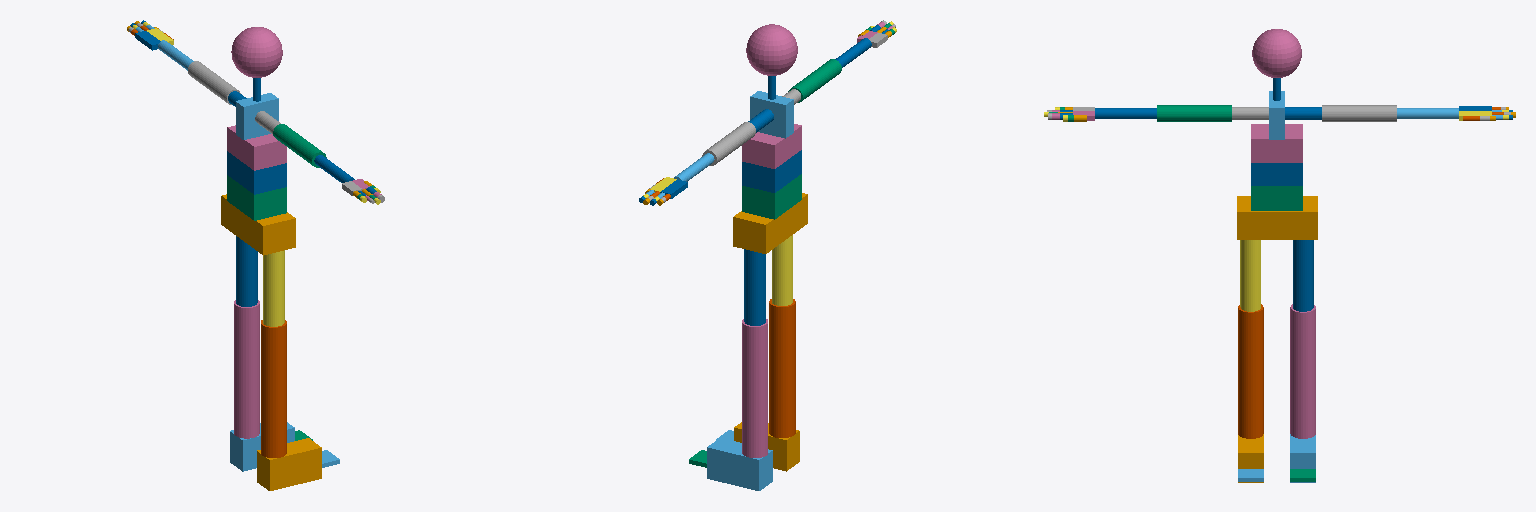
--- What the picture shows (computed from the rendered views, not written in the file) ---
3 views of the same robot in one strip: view 1: azimuth 30°, elevation 25°; view 2: azimuth 150°, elevation 25°; view 3: azimuth 270°, elevation 25° (orthographic).
Model XSensStyleModel_template_hands with 91 links and 90 joints (90 revolute), rooted at Pelvis, posed every joint at zero.
Visible links, largest first — view 1: LeftLowerLeg, RightLowerLeg, RightFoot, Pelvis, Head, T12, RightUpperLeg, L5, L3, LeftUpperLeg, T8, LeftFoot (+2 smaller); view 2: RightLowerLeg, LeftLowerLeg, LeftFoot, Pelvis, Head, T12, LeftUpperLeg, L5, L3, T8, RightUpperLeg, RightFoot (+2 smaller); view 3: RightLowerLeg, LeftLowerLeg, Pelvis, Head, T12, LeftUpperLeg, RightUpperLeg, L5, RightUpperArm, LeftUpperArm, L3, LeftFoot (+4 smaller).
Link boxes in pixels (box(x1,y1,x2,y2)): LeftLowerLeg: box(234, 300, 259, 438); RightLowerLeg: box(261, 320, 286, 457); RightFoot: box(257, 438, 321, 490); Pelvis: box(221, 194, 295, 255); Head: box(231, 27, 282, 77); T12: box(227, 125, 286, 170); RightUpperLeg: box(263, 250, 284, 326); L5: box(227, 175, 286, 220); L3: box(227, 151, 286, 194); LeftUpperLeg: box(236, 236, 257, 306); T8: box(236, 93, 278, 139); LeftFoot: box(230, 422, 294, 471); RightLowerLeg: box(769, 299, 795, 437); LeftLowerLeg: box(742, 319, 767, 457); LeftFoot: box(707, 438, 772, 490); Pelvis: box(733, 193, 807, 253); Head: box(746, 24, 797, 75); T12: box(742, 124, 801, 168); LeftUpperLeg: box(744, 249, 765, 325); L5: box(742, 174, 801, 219); L3: box(742, 150, 801, 192); T8: box(750, 91, 793, 138); RightUpperLeg: box(772, 235, 792, 305); RightFoot: box(734, 422, 799, 471); RightLowerLeg: box(1238, 304, 1263, 438); LeftLowerLeg: box(1290, 304, 1315, 438); Pelvis: box(1237, 196, 1317, 239); Head: box(1252, 29, 1301, 77); T12: box(1251, 124, 1302, 162); LeftUpperLeg: box(1293, 240, 1313, 311); RightUpperLeg: box(1240, 240, 1260, 311); L5: box(1251, 186, 1302, 210); RightUpperArm: box(1157, 105, 1231, 121); LeftUpperArm: box(1322, 105, 1396, 121); L3: box(1251, 163, 1302, 185); LeftFoot: box(1290, 434, 1315, 482).
Size in the robot's own frame: 0.327 by 1.62 by 1.64 metres.
Geometry: primitives only (box / cylinder / sphere), no mesh files.

The robot description file, URDF, robot "XSensStyleModel_template_hands":
<!--URDF MODEL 48 DoFs with Hands-->

<robot name="XSensStyleModel_template_hands">
<!--To open this model with Gazebo replace the null masses, inertias and dimensions of the 'fake links f1 and f2'-->
    <!--LINKS-->
	<!--Link base (1)-->
	<link name="Pelvis">
        <inertial>
            <mass value="5.12"/>
			<!--COM origin wrt pHipOrigin-->
            <origin xyz="-0.0066875           0    0.054332" rpy="0 0 0" />
            <inertia ixx="0.037969" iyy="0.011625" izz="0.039694" ixy="0" ixz="0" iyz="0"/>
        </inertial>

        <visual>
			<!--box origin wrt pHipOrigin-->
            <origin xyz="-0.0066875           0    0.054332" rpy="0 0 0" />
            <geometry>
                <box size="0.12508     0.27819     0.10771"/>
            </geometry>
        </visual>

        <collision>
			<!--box origin wrt pHipOrigin-->
            <origin xyz="-0.0066875           0    0.054332" rpy="0 0 0" />
            <geometry>
                <box size="0.12508     0.27819     0.10771"/>
            </geometry>
        </collision>

    </link>
    <!--Chain from (2) to (7)-->
	<link name="L5_f1">
        <inertial>
            <mass value="0.0001"/>
            <origin xyz="0 0 0" rpy="0 0 0" />
            <inertia ixx="0.0003" iyy="0.0003" izz="0.0003" ixy="0" ixz="0" iyz="0"/>
        </inertial>
    </link>
	<link name="L5">
        <inertial>
            <mass value="6.528"/>
			<!--COM origin wrt jL5S1-->
            <origin xyz="0           0    0.048039" rpy="0 0 0" />
            <inertia ixx="0.022535" iyy="0.013532" izz="0.026024" ixy="0" ixz="0" iyz="0"/>
        </inertial>

        <visual>
			<!--box origin origin wrt jL5S1-->
            <origin xyz="0           0    0.048039" rpy="0 0 0" />
            <geometry>
                <box size="0.12508     0.17943    0.096078"/>
            </geometry>
        </visual>

        <collision>
			<!--box origin origin wrt jL5S1-->
            <origin xyz="0           0    0.048039" rpy="0 0 0" />
            <geometry>
                <box size="0.12508     0.17943    0.096078"/>
            </geometry>
        </collision>
    </link>
	<link name="L3_f1">
        <inertial>
            <mass value="0.0001"/>
            <origin xyz="0 0 0" rpy="0 0 0" />
            <inertia ixx="0.0003" iyy="0.0003" izz="0.0003" ixy="0" ixz="0" iyz="0"/>
        </inertial>
    </link>
	<link name="L3">
        <inertial>
            <mass value="6.528"/>
			<!--COM origin wrt jL4L3-->
            <origin xyz="0           0    0.043871" rpy="0 0 0" />
            <inertia ixx="0.021701" iyy="0.012699" izz="0.026024" ixy="0" ixz="0" iyz="0"/>
        </inertial>

        <visual>
			<!--box origin origin wrt jL4L3-->
            <origin xyz="0           0    0.043871" rpy="0 0 0" />
            <geometry>
                <box size="0.12508     0.17943    0.087742"/>
            </geometry>
        </visual>

        <collision>
			<!--box origin origin wrt jL4L3-->
            <origin xyz="0           0    0.043871" rpy="0 0 0" />
            <geometry>
                <box size="0.12508     0.17943    0.087742"/>
            </geometry>
        </collision>
    </link>
	<link name="T12_f1">
        <inertial>
            <mass value="0.0001"/>
            <origin xyz="0 0 0" rpy="0 0 0" />
            <inertia ixx="0.0003" iyy="0.0003" izz="0.0003" ixy="0" ixz="0" iyz="0"/>
        </inertial>
    </link>
	<link name="T12">
        <inertial>
            <mass value="6.528"/>
			<!--COM origin wrt jL1T12-->
            <origin xyz="0           0    0.043822" rpy="0 0 0" />
            <inertia ixx="0.021692" iyy="0.012689" izz="0.026024" ixy="0" ixz="0" iyz="0"/>
        </inertial>

        <visual>
			<!--box origin origin wrt jL1T12-->
            <origin xyz="0           0    0.043822" rpy="0 0 0" />
            <geometry>
                <box size="0.12508     0.17943    0.087644"/>
            </geometry>
        </visual>

        <collision>
			<!--box origin origin wrt jL1T12-->
            <origin xyz="0           0    0.043822" rpy="0 0 0" />
            <geometry>
                <box size="0.12508     0.17943    0.087644"/>
            </geometry>
        </collision>
    </link>
	<link name="T8_f1">
        <inertial>
            <mass value="0.0001"/>
            <origin xyz="0 0 0" rpy="0 0 0" />
            <inertia ixx="0.0003" iyy="0.0003" izz="0.0003" ixy="0" ixz="0" iyz="0"/>
        </inertial>
    </link>
	<link name="T8_f2">
        <inertial>
            <mass value="0.0001"/>
            <origin xyz="0 0 0" rpy="0 0 0" />
            <inertia ixx="0.0003" iyy="0.0003" izz="0.0003" ixy="0" ixz="0" iyz="0"/>
        </inertial>
    </link>
	<link name="T8">
        <inertial>
            <mass value="2.56"/>
			<!--COM origin wrt jT9T8-->
            <origin xyz="0           0    0.061169" rpy="0 0 0" />
            <inertia ixx="0.0038013" iyy="0.0070865" izz="0.0045021" ixy="0" ixz="0" iyz="0"/>
        </inertial>

        <visual>
			<!--box origin wrt jT9T8-->
            <origin xyz="0           0    0.061169" rpy="0 0 0" />
            <geometry>
                <box size="0.1351    0.053406     0.12234"/>
            </geometry>
        </visual>

        <collision>
			<!--box origin wrt jT9T8-->
            <origin xyz="0           0    0.061169" rpy="0 0 0" />
            <geometry>
                <box size="0.1351    0.053406     0.12234"/>
            </geometry>
        </collision>

    </link>
	<link name="Neck_f1">
        <inertial>
            <mass value="0.0001"/>
            <origin xyz="0 0 0" rpy="0 0 0" />
            <inertia ixx="0.0003" iyy="0.0003" izz="0.0003" ixy="0" ixz="0" iyz="0"/>
        </inertial>
    </link>
	<link name="Neck_f2">
        <inertial>
            <mass value="0.0001"/>
            <origin xyz="0 0 0" rpy="0 0 0" />
            <inertia ixx="0.0003" iyy="0.0003" izz="0.0003" ixy="0" ixz="0" iyz="0"/>
        </inertial>
    </link>
	<link name="Neck">
        <inertial>
            <mass value="0.768"/>
			<!--COM origin wrt jT1C7-->
            <origin xyz="0           0    0.044394" rpy="0 0 0" />
            <inertia ixx="0.00065436" iyy="0.00065436" izz="0.00029968" ixy="0" ixz="0" iyz="0"/>
        </inertial>

        <visual>
			<!--box origin wrt jT1C7-->
            <origin xyz="0           0    0.044394" rpy="0 0 0" />
            <geometry>
		<cylinder length="0.088787" radius="0.013968"/>
            </geometry>
        </visual>

        <collision>
			<!--box origin wrt jT1C7-->
            <origin xyz="0           0    0.044394" rpy="0 0 0" />
            <geometry>
                <cylinder length="0.088787" radius="0.013968"/>
            </geometry>
        </collision>
    </link>
	<link name="Head_f1">
        <inertial>
            <mass value="0.0001"/>
            <origin xyz="0 0 0" rpy="0 0 0" />
            <inertia ixx="0.0003" iyy="0.0003" izz="0.0003" ixy="0" ixz="0" iyz="0"/>
        </inertial>
    </link>
	<link name="Head">
        <inertial>
            <mass value="2.304"/>
			<!--COM origin wrt jC1Head-->
            <origin xyz="0           0    0.085558" rpy="0 0 0" />
            <inertia ixx="0.0067463" iyy="0.0067463" izz="0.0067463" ixy="0" ixz="0" iyz="0"/>
        </inertial>

        <visual>
			<!--boc origin wrt jC1Head-->
            <origin xyz="0           0    0.085558" rpy="0 0 0" />
            <geometry>
                <sphere radius="0.085558"/>
            </geometry>
        </visual>

        <collision>
			<!--box origin wrt jC1Head-->
            <origin xyz="0           0    0.085558" rpy="0 0 0" />
            <geometry>
                <sphere radius="0.085558"/>
            </geometry>
        </collision>

    </link>
	<!--Chain from (8) to (11)-->
	<link name="RightShoulder">
        <inertial>
            <mass value="1.984"/>
			<!--COM origin wrt jRightC7Shoulder-->
            <origin xyz="0   -0.063894           0" rpy="0 0 0" />
            <inertia ixx="0.0029639" iyy="0.0005281" izz="0.0029639" ixy="0" ixz="0" iyz="0"/>
        </inertial>

        <visual>
			<!--box origin wrt jRightC7Shoulder. RPY rotated of pi/2.-->
            <origin xyz="0   -0.063894           0" rpy="1.5708 0 0" />
            <geometry>
                <cylinder length="0.12779" radius="0.023073"/>
            </geometry>
        </visual>

        <collision>
			<!--box origin wrt jRightC7Shoulder. RPY rotated of pi/2.-->
            <origin xyz="0   -0.063894           0" rpy="1.5708 0 0" />
            <geometry>
                <cylinder length="0.12779" radius="0.023073"/>
            </geometry>
        </collision>

    </link>
	<link name="RightUpperArm_f1">
        <inertial>
            <mass value="0.0001"/>
            <origin xyz="0 0 0" rpy="0 0 0" />
            <inertia ixx="0.0003" iyy="0.0003" izz="0.0003" ixy="0" ixz="0" iyz="0"/>
        </inertial>
    </link>
	<link name="RightUpperArm_f2">
        <inertial>
            <mass value="0.0001"/>
            <origin xyz="0 0 0" rpy="0 0 0" />
            <inertia ixx="0.0003" iyy="0.0003" izz="0.0003" ixy="0" ixz="0" iyz="0"/>
        </inertial>
    </link>
    <link name="RightUpperArm">
        <inertial>
            <mass value="1.92"/>
			<!--COM origin wrt jRightShoulder-->
            <origin xyz="0     -0.1292           0" rpy="0 0 0" />
            <inertia ixx="0.011066" iyy="0.00076525" izz="0.011066" ixy="0" ixz="0" iyz="0"/>
        </inertial>

        <visual>
			<!--box origin wrt jRightShoulder. RPY rotated of pi/2.-->
            <origin xyz="0     -0.1292           0" rpy="1.5708 0 0" />
            <geometry>
                <cylinder length="0.2584" radius="0.028234"/>
            </geometry>
        </visual>

        <collision>
			<!--box origin wrt jRightShoulder. RPY rotated of pi/2.-->
            <origin xyz="0     -0.1292           0" rpy="1.5708 0 0" />
            <geometry>
                <cylinder length="0.2584" radius="0.028234"/>
            </geometry>
        </collision>

    </link>
	<link name="RightForeArm_f1">
        <inertial>
            <mass value="0.0001"/>
            <origin xyz="0 0 0" rpy="0 0 0" />
            <inertia ixx="0.0003" iyy="0.0003" izz="0.0003" ixy="0" ixz="0" iyz="0"/>
        </inertial>
    </link>
	<link name="RightForeArm">
        <inertial>
            <mass value="1.28"/>
			<!--COM origin wrt jRightElbow-->
            <origin xyz="0    -0.10664           0" rpy="0 0 0" />
            <inertia ixx="0.0049657" iyy="0.00022674" izz="0.0049657" ixy="0" ixz="0" iyz="0"/>
        </inertial>

        <visual>
			<!--box origin wrt jRightElbow. RPY rotated of pi/2.-->
            <origin xyz="0    -0.10664           0" rpy="1.5708 0 0" />
            <geometry>
                <cylinder length="0.21329" radius="0.018822"/>
            </geometry>
        </visual>

        <collision>
			<!--box origin wrt jRightElbow. RPY rotated of pi/2.-->
            <origin xyz="0    -0.10664           0" rpy="1.5708 0 0" />
            <geometry>
                <cylinder length="0.21329" radius="0.018822"/>
            </geometry>
        </collision>

    </link>
	<link name="RightWrist_f1">
        <inertial>
            <mass value="0.0001"/>
            <origin xyz="0 0 0" rpy="0 0 0" />
            <inertia ixx="0.0003" iyy="0.0003" izz="0.0003" ixy="0" ixz="0" iyz="0"/>
        </inertial>
    </link>
	<!--RIGHT HAND-->
	<link name="RightPalmCloseToThumb">
        <inertial>
            <mass value="0.096"/>
			<!--COM origin wrt jRightWrist-->
            <origin xyz="0.018837    -0.03695           0" rpy="0 0 0" />
            <inertia ixx="4.6524e-05" iyy="1.4189e-05" izz="5.5044e-05" ixy="0" ixz="0" iyz="0"/>
        </inertial>

        <visual>
			<!--box origin wrt jRightWrist-->
            <origin xyz="0.018837    -0.03695           0" rpy="0 0 0" />
            <geometry>
                <box size="0.037673      0.0739    0.018822"/>
            </geometry>
        </visual>

        <collision>
			<!--box origin wrt jRightWrist-->
            <origin xyz="0.018837    -0.03695           0" rpy="0 0 0" />
            <geometry>
                <box size="0.037673      0.0739    0.018822"/>
            </geometry>
        </collision>

    </link>
	<link name="RightPalmFarFromThumb">
        <inertial>
            <mass value="0.096"/>
			<!--COM origin wrt jRightWrist-->
            <origin xyz="-0.018837           0           0" rpy="0 0 0" />
            <inertia ixx="4.6524e-05" iyy="1.4189e-05" izz="5.5044e-05" ixy="0" ixz="0" iyz="0"/>
        </inertial>

        <visual>
			<!--box origin wrt jRightWrist-->
            <origin xyz="-0.018837           0           0" rpy="0 0 0" />
            <geometry>
                <box size="0.037673      0.0739    0.018822"/>
            </geometry>
        </visual>

        <collision>
			<!--box origin wrt jRightWrist-->
            <origin xyz="-0.018837           0           0" rpy="0 0 0" />
            <geometry>
                <box size="0.037673      0.0739    0.018822"/>
            </geometry>
        </collision>

    </link>
	<link name="RightPinky1">
        <inertial>
            <mass value="0.00896"/>
			<!--COM origin wrt jRightPinky1-->
            <origin xyz="0   -0.014751           0" rpy="0 0 0" />
            <inertia ixx="8.7223e-07" iyy="4.4468e-07" izz="8.7223e-07" ixy="0" ixz="0" iyz="0"/>
        </inertial>

        <visual>
			<!--box origin wrt jRightPinky1-->
            <origin xyz="0   -0.014751           0" rpy="1.5708 0 0" />
            <geometry>
                <cylinder length="0.029502" radius="0.0099628"/>
            </geometry>
        </visual>

        <collision>
			<!--box origin wrt jRightPinky1-->
            <origin xyz="0   -0.014751           0" rpy="1.5708 0 0" />
            <geometry>
                <cylinder length="0.029502" radius="0.0099628"/>
            </geometry>
        </collision>

    </link>
	<link name="RightPinky2_f1">
        <inertial>
            <mass value="0.0001"/>
            <origin xyz="0 0 0" rpy="0 0 0" />
            <inertia ixx="0.0003" iyy="0.0003" izz="0.0003" ixy="0" ixz="0" iyz="0"/>
        </inertial>
    </link>
	<link name="RightPinky2">
        <inertial>
            <mass value="0.00896"/>
			<!--COM origin wrt jRightPinky2-->
            <origin xyz="0  -0.0088507           0" rpy="0 0 0" />
            <inertia ixx="4.563e-07" iyy="4.4468e-07" izz="4.563e-07" ixy="0" ixz="0" iyz="0"/>
        </inertial>

        <visual>
			<!--box origin wrt jRightPinky2-->
            <origin xyz="0  -0.0088507           0" rpy="1.5708 0 0" />
            <geometry>
                <cylinder length="0.017701" radius="0.0099628"/>
            </geometry>
        </visual>

        <collision>
			<!--box origin wrt jRightPinky2-->
            <origin xyz="0  -0.0088507           0" rpy="1.5708 0 0" />
            <geometry>
                <cylinder length="0.017701" radius="0.0099628"/>
            </geometry>
        </collision>

    </link>
	<link name="RightPinky3">
        <inertial>
            <mass value="0.00896"/>
			<!--COM origin wrt jRightPinky3-->
            <origin xyz="0  -0.0075909           0" rpy="0 0 0" />
            <inertia ixx="3.9444e-07" iyy="4.4468e-07" izz="3.9444e-07" ixy="0" ixz="0" iyz="0"/>
        </inertial>

        <visual>
			<!--box origin wrt jRightPinky3-->
            <origin xyz="0  -0.0075909           0" rpy="1.5708 0 0" />
            <geometry>
                <cylinder length="0.015182" radius="0.0099628"/>
            </geometry>
        </visual>

        <collision>
			<!--box origin wrt jRightPinky3-->
            <origin xyz="0  -0.0075909           0" rpy="1.5708 0 0" />
            <geometry>
                <cylinder length="0.015182" radius="0.0099628"/>
            </geometry>
        </collision>

    </link>
	<link name="RightRing1">
        <inertial>
            <mass value="0.0128"/>
			<!--COM origin wrt jRightRing1-->
            <origin xyz="0   -0.022527           0" rpy="0 0 0" />
            <inertia ixx="2.3065e-06" iyy="2.8262e-07" izz="2.3065e-06" ixy="0" ixz="0" iyz="0"/>
        </inertial>

        <visual>
			<!--box origin wrt jRightRing1-->
            <origin xyz="0   -0.022527           0" rpy="1.5708 0 0" />
            <geometry>
                <cylinder length="0.045055" radius="0.0066453"/>
            </geometry>
        </visual>

        <collision>
			<!--box origin wrt jRightRing1-->
            <origin xyz="0   -0.022527           0" rpy="1.5708 0 0" />
            <geometry>
                <cylinder length="0.045055" radius="0.0066453"/>
            </geometry>
        </collision>

    </link>
	<link name="RightRing2_f1">
        <inertial>
            <mass value="0.0001"/>
            <origin xyz="0 0 0" rpy="0 0 0" />
            <inertia ixx="0.0003" iyy="0.0003" izz="0.0003" ixy="0" ixz="0" iyz="0"/>
        </inertial>
    </link>
	<link name="RightRing2">
        <inertial>
            <mass value="0.0128"/>
			<!--COM origin wrt jRightRing2-->
            <origin xyz="0   -0.013516           0" rpy="0 0 0" />
            <inertia ixx="9.208e-07" iyy="2.8262e-07" izz="9.208e-07" ixy="0" ixz="0" iyz="0"/>
        </inertial>

        <visual>
			<!--box origin wrt jRightRing2-->
            <origin xyz="0   -0.013516           0" rpy="1.5708 0 0" />
            <geometry>
                <cylinder length="0.027033" radius="0.0066453"/>
            </geometry>
        </visual>

        <collision>
			<!--box origin wrt jRightRing2-->
            <origin xyz="0   -0.013516           0" rpy="1.5708 0 0" />
            <geometry>
                <cylinder length="0.027033" radius="0.0066453"/>
            </geometry>
        </collision>

    </link>
	<link name="RightRing3">
        <inertial>
            <mass value="0.0128"/>
			<!--COM origin wrt jRightRing3-->
            <origin xyz="0  -0.0089011           0" rpy="0 0 0" />
            <inertia ixx="4.7935e-07" iyy="2.8262e-07" izz="4.7935e-07" ixy="0" ixz="0" iyz="0"/>
        </inertial>

        <visual>
			<!--box origin wrt jRightRing3-->
            <origin xyz="0  -0.0089011           0" rpy="1.5708 0 0" />
            <geometry>
                <cylinder length="0.017802" radius="0.0066453"/>
            </geometry>
        </visual>

        <collision>
			<!--box origin wrt jRightRing3-->
            <origin xyz="0  -0.0089011           0" rpy="1.5708 0 0" />
            <geometry>
                <cylinder length="0.017802" radius="0.0066453"/>
            </geometry>
        </collision>

    </link>
	<link name="RightMiddle1">
        <inertial>
            <mass value="0.0128"/>
			<!--COM origin wrt jRightMiddle1-->
            <origin xyz="0   -0.026152           0" rpy="0 0 0" />
            <inertia ixx="3.172e-06" iyy="5.0766e-07" izz="3.172e-06" ixy="0" ixz="0" iyz="0"/>
        </inertial>

        <visual>
			<!--box origin wrt jRightMiddle1-->
            <origin xyz="0   -0.026152           0" rpy="1.5708 0 0" />
            <geometry>
                <cylinder length="0.052304" radius="0.0089063"/>
            </geometry>
        </visual>

        <collision>
			<!--box origin wrt jRightMiddle1-->
            <origin xyz="0   -0.026152           0" rpy="1.5708 0 0" />
            <geometry>
                <cylinder length="0.052304" radius="0.0089063"/>
            </geometry>
        </collision>

    </link>
	<link name="RightMiddle2_f1">
        <inertial>
            <mass value="0.0001"/>
            <origin xyz="0 0 0" rpy="0 0 0" />
            <inertia ixx="0.0003" iyy="0.0003" izz="0.0003" ixy="0" ixz="0" iyz="0"/>
        </inertial>
    </link>
	<link name="RightMiddle2">
        <inertial>
            <mass value="0.0128"/>
			<!--COM origin wrt jRightMiddle2-->
            <origin xyz="0   -0.015691           0" rpy="0 0 0" />
            <inertia ixx="1.3044e-06" iyy="5.0766e-07" izz="1.3044e-06" ixy="0" ixz="0" iyz="0"/>
        </inertial>

        <visual>
			<!--box origin wrt jRightMiddle2-->
            <origin xyz="0   -0.015691           0" rpy="1.5708 0 0" />
            <geometry>
                <cylinder length="0.031383" radius="0.0089063"/>
            </geometry>
        </visual>

        <collision>
			<!--box origin wrt jRightMiddle2-->
            <origin xyz="0   -0.015691           0" rpy="1.5708 0 0" />
            <geometry>
                <cylinder length="0.031383" radius="0.0089063"/>
            </geometry>
        </collision>

    </link>
	<link name="RightMiddle3">
        <inertial>
            <mass value="0.0128"/>
			<!--COM origin wrt jRightMiddle3-->
            <origin xyz="0  -0.0076164           0" rpy="0 0 0" />
            <inertia ixx="5.0134e-07" iyy="5.0766e-07" izz="5.0134e-07" ixy="0" ixz="0" iyz="0"/>
        </inertial>

        <visual>
			<!--box origin wrt jRightMiddle3-->
            <origin xyz="0  -0.0076164           0" rpy="1.5708 0 0" />
            <geometry>
                <cylinder length="0.015233" radius="0.0089063"/>
            </geometry>
        </visual>

        <collision>
			<!--box origin wrt jRightMiddle3-->
            <origin xyz="0  -0.0076164           0" rpy="1.5708 0 0" />
            <geometry>
                <cylinder length="0.015233" radius="0.0089063"/>
            </geometry>
        </collision>

    </link>
	<link name="RightIndex1">
        <inertial>
            <mass value="0.0128"/>
			<!--COM origin wrt jRightIndex1-->
            <origin xyz="0   -0.023258           0" rpy="0 0 0" />
            <inertia ixx="2.7812e-06" iyy="9.4619e-07" izz="2.7812e-06" ixy="0" ixz="0" iyz="0"/>
        </inertial>

        <visual>
			<!--box origin wrt jRightIndex1-->
            <origin xyz="0   -0.023258           0" rpy="1.5708 0 0" />
            <geometry>
                <cylinder length="0.046517" radius="0.012159"/>
            </geometry>
        </visual>

        <collision>
			<!--box origin wrt jRightIndex1-->
            <origin xyz="0   -0.023258           0" rpy="1.5708 0 0" />
            <geometry>
                <cylinder length="0.046517" radius="0.012159"/>
            </geometry>
        </collision>

    </link>
	<link name="RightIndex2_f1">
        <inertial>
            <mass value="0.0001"/>
            <origin xyz="0 0 0" rpy="0 0 0" />
            <inertia ixx="0.0003" iyy="0.0003" izz="0.0003" ixy="0" ixz="0" iyz="0"/>
        </inertial>
    </link>
	<link name="RightIndex2">
        <inertial>
            <mass value="0.0128"/>
			<!--COM origin wrt jRightIndex2-->
            <origin xyz="0   -0.013955           0" rpy="0 0 0" />
            <inertia ixx="1.304e-06" iyy="9.4619e-07" izz="1.304e-06" ixy="0" ixz="0" iyz="0"/>
        </inertial>

        <visual>
			<!--box origin wrt jRightIndex2-->
            <origin xyz="0   -0.013955           0" rpy="1.5708 0 0" />
            <geometry>
                <cylinder length="0.02791" radius="0.012159"/>
            </geometry>
        </visual>

        <collision>
			<!--box origin wrt jRightIndex2-->
            <origin xyz="0   -0.013955           0" rpy="1.5708 0 0" />
            <geometry>
                <cylinder length="0.02791" radius="0.012159"/>
            </geometry>
        </collision>

    </link>
	<link name="RightIndex3">
        <inertial>
            <mass value="0.0128"/>
			<!--COM origin wrt jRightIndex3-->
            <origin xyz="0   -0.006333           0" rpy="0 0 0" />
            <inertia ixx="6.4422e-07" iyy="9.4619e-07" izz="6.4422e-07" ixy="0" ixz="0" iyz="0"/>
        </inertial>

        <visual>
			<!--box origin wrt jRightIndex3-->
            <origin xyz="0   -0.006333           0" rpy="1.5708 0 0" />
            <geometry>
                <cylinder length="0.012666" radius="0.012159"/>
            </geometry>
        </visual>

        <collision>
			<!--box origin wrt jRightIndex3-->
            <origin xyz="0   -0.006333           0" rpy="1.5708 0 0" />
            <geometry>
                <cylinder length="0.012666" radius="0.012159"/>
            </geometry>
        </collision>

    </link>
	<link name="RightThumb1">
        <inertial>
            <mass value="0.01664"/>
			<!--COM origin wrt jRightIndex1-->
            <origin xyz="0   -0.021114           0" rpy="0 0 0" />
            <inertia ixx="3.0878e-06" iyy="1.2301e-06" izz="3.0878e-06" ixy="0" ixz="0" iyz="0"/>
        </inertial>

        <visual>
			<!--box origin wrt jRightThumb1-->
            <origin xyz="0   -0.021114           0" rpy="1.5708 0 0" />
            <geometry>
                <cylinder length="0.042229" radius="0.012159"/>
            </geometry>
        </visual>

        <collision>
			<!--box origin wrt jRightThumb1-->
            <origin xyz="0   -0.021114           0" rpy="1.5708 0 0" />
            <geometry>
                <cylinder length="0.042229" radius="0.012159"/>
            </geometry>
        </collision>

    </link>
	<link name="RightThumb2_f1">
        <inertial>
            <mass value="0.0001"/>
            <origin xyz="0 0 0" rpy="0 0 0" />
            <inertia ixx="0.0003" iyy="0.0003" izz="0.0003" ixy="0" ixz="0" iyz="0"/>
        </inertial>
    </link>
	<link name="RightThumb2">
        <inertial>
            <mass value="0.01664"/>
			<!--COM origin wrt jRightIndex2-->
            <origin xyz="0   -0.010808           0" rpy="0 0 0" />
            <inertia ixx="1.2629e-06" iyy="1.2301e-06" izz="1.2629e-06" ixy="0" ixz="0" iyz="0"/>
        </inertial>

        <visual>
			<!--box origin wrt jRightThumb2-->
            <origin xyz="0   -0.010808           0" rpy="1.5708 0 0" />
            <geometry>
                <cylinder length="0.021615" radius="0.012159"/>
            </geometry>
        </visual>

        <collision>
			<!--box origin wrt jRightThumb2-->
            <origin xyz="0   -0.010808           0" rpy="1.5708 0 0" />
            <geometry>
                <cylinder length="0.021615" radius="0.012159"/>
            </geometry>
        </collision>

    </link>
	<link name="RightThumb3">
        <inertial>
            <mass value="0.01664"/>
			<!--COM origin wrt jRightIndex3-->
            <origin xyz="0  -0.0081058           0" rpy="0 0 0" />
            <inertia ixx="9.7946e-07" iyy="1.2301e-06" izz="9.7946e-07" ixy="0" ixz="0" iyz="0"/>
        </inertial>

        <visual>
			<!--box origin wrt jRightThumb3-->
            <origin xyz="0  -0.0081058           0" rpy="1.5708 0 0" />
            <geometry>
                <cylinder length="0.016212" radius="0.012159"/>
            </geometry>
        </visual>

        <collision>
			<!--box origin wrt jRightThumb3-->
            <origin xyz="0  -0.0081058           0" rpy="1.5708 0 0" />
            <geometry>
                <cylinder length="0.016212" radius="0.012159"/>
            </geometry>
        </collision>

    </link>
	<!--Chain from (12) to (15)-->
	<link name="LeftShoulder">
        <inertial>
            <mass value="1.984"/>
			<!--COM origin wrt jLeftC7Shoulder-->
            <origin xyz="0    0.063894           0" rpy="0 0 0" />
            <inertia ixx="0.0029639" iyy="0.0005281" izz="0.0029639" ixy="0" ixz="0" iyz="0"/>
        </inertial>

        <visual>
			<!--box origin wrt jLeftC7Shoulder. RPY rotated of pi/2.-->
            <origin xyz="0    0.063894           0" rpy="1.5708 0 0" />
            <geometry>
                <cylinder length="0.12779" radius="0.023073"/>
            </geometry>
        </visual>

        <collision>
			<!--box origin wrt jLeftC7Shoulder. RPY rotated of pi/2.-->
            <origin xyz="0    0.063894           0" rpy="1.5708 0 0" />
            <geometry>
                <cylinder length="0.12779" radius="0.023073"/>
            </geometry>
        </collision>

    </link>
	<link name="LeftUpperArm_f1">
        <inertial>
            <mass value="0.0001"/>
            <origin xyz="0 0 0" rpy="0 0 0" />
            <inertia ixx="0.0003" iyy="0.0003" izz="0.0003" ixy="0" ixz="0" iyz="0"/>
        </inertial>
    </link>
	<link name="LeftUpperArm_f2">
        <inertial>
            <mass value="0.0001"/>
            <origin xyz="0 0 0" rpy="0 0 0" />
            <inertia ixx="0.0003" iyy="0.0003" izz="0.0003" ixy="0" ixz="0" iyz="0"/>
        </inertial>
    </link>
	<link name="LeftUpperArm">
        <inertial>
            <mass value="1.92"/>
			<!--COM origin wrt jLeftShoulder-->
            <origin xyz="0      0.1292           0" rpy="0 0 0" />
            <inertia ixx="0.011066" iyy="0.00076525" izz="0.011066" ixy="0" ixz="0" iyz="0"/>
        </inertial>

        <visual>
			<!--box origin wrt jLeftShoulder. RPY rotated of pi/2.-->
            <origin xyz="0      0.1292           0" rpy="1.5708 0 0" />
            <geometry>
                <cylinder length="0.2584" radius="0.028234"/>
            </geometry>
        </visual>

        <collision>
			<!--box origin wrt jLeftShoulder. RPY rotated of pi/2.-->
            <origin xyz="0      0.1292           0" rpy="1.5708 0 0" />
            <geometry>
                <cylinder length="0.2584" radius="0.028234"/>
            </geometry>
        </collision>

    </link>
	<link name="LeftForeArm_f1">
        <inertial>
            <mass value="0.0001"/>
            <origin xyz="0 0 0" rpy="0 0 0" />
            <inertia ixx="0.0003" iyy="0.0003" izz="0.0003" ixy="0" ixz="0" iyz="0"/>
        </inertial>
    </link>
	<link name="LeftForeArm">
        <inertial>
            <mass value="1.28"/>
			<!--COM origin wrt jLeftElbow-->
            <origin xyz="0     0.10664           0" rpy="0 0 0" />
            <inertia ixx="0.0049657" iyy="0.00022674" izz="0.0049657" ixy="0" ixz="0" iyz="0"/>
        </inertial>

        <visual>
			<!--box origin wrt jLeftElbow. RPY rotated of pi/2.-->
            <origin xyz="0     0.10664           0" rpy="1.5708 0 0" />
            <geometry>
                <cylinder length="0.21329" radius="0.018822"/>
            </geometry>
        </visual>

        <collision>
			<!--box origin wrt jLeftElbow. RPY rotated of pi/2.-->
            <origin xyz="0     0.10664           0" rpy="1.5708 0 0" />
            <geometry>
                <cylinder length="0.21329" radius="0.018822"/>
            </geometry>
        </collision>

    </link>
	<link name="LeftWrist_f1">
        <inertial>
            <mass value="0.0001"/>
            <origin xyz="0 0 0" rpy="0 0 0" />
            <inertia ixx="0.0003" iyy="0.0003" izz="0.0003" ixy="0" ixz="0" iyz="0"/>
        </inertial>
    </link>
	<!--LEFT HAND-->
	<link name="LeftPalmCloseToThumb">
        <inertial>
            <mass value="0.096"/>
			<!--COM origin wrt jLeftWrist-->
            <origin xyz="0.020485    0.055845           0" rpy="0 0 0" />
            <inertia ixx="0.00010263" iyy="1.6263e-05" izz="0.00011323" ixy="0" ixz="0" iyz="0"/>
        </inertial>

        <visual>
			<!--box origin wrt jLeftWrist-->
            <origin xyz="0.020485    0.055845           0" rpy="0 0 0" />
            <geometry>
                <box size="0.04097     0.11169    0.018822"/>
            </geometry>
        </visual>

        <collision>
			<!--box origin wrt jLeftWrist-->
            <origin xyz="0.020485    0.055845           0" rpy="0 0 0" />
            <geometry>
                <box size="0.04097     0.11169    0.018822"/>
            </geometry>
        </collision>

    </link>
	<link name="LeftPalmFarFromThumb">
        <inertial>
            <mass value="0.096"/>
			<!--COM origin wrt jLeftWrist-->
            <origin xyz="-0.020485           0           0" rpy="0 0 0" />
            <inertia ixx="0.00010263" iyy="1.6263e-05" izz="0.00011323" ixy="0" ixz="0" iyz="0"/>
        </inertial>

        <visual>
			<!--box origin wrt jLeftWrist-->
            <origin xyz="-0.020485           0           0" rpy="0 0 0" />
            <geometry>
                <box size="0.04097     0.11169    0.018822"/>
            </geometry>
        </visual>

        <collision>
			<!--box origin wrt jLeftWrist-->
            <origin xyz="-0.020485           0           0" rpy="0 0 0" />
            <geometry>
                <box size="0.04097     0.11169    0.018822"/>
            </geometry>
        </collision>

    </link>
	<link name="LeftPinky1">
        <inertial>
            <mass value="0.00896"/>
			<!--COM origin wrt jLeftPinky1-->
            <origin xyz="0     0.01513           0" rpy="0 0 0" />
            <inertia ixx="8.821e-07" iyy="3.9679e-07" izz="8.821e-07" ixy="0" ixz="0" iyz="0"/>
        </inertial>

        <visual>
			<!--box origin wrt jLeftPinky1-->
            <origin xyz="0     0.01513           0" rpy="1.5708 0 0" />
            <geometry>
                <cylinder length="0.03026" radius="0.0094112"/>
            </geometry>
        </visual>

        <collision>
			<!--box origin wrt jLeftPinky1-->
            <origin xyz="0     0.01513           0" rpy="1.5708 0 0" />
            <geometry>
                <cylinder length="0.03026" radius="0.0094112"/>
            </geometry>
        </collision>

    </link>
	<link name="LeftPinky2_f1">
        <inertial>
            <mass value="0.0001"/>
            <origin xyz="0 0 0" rpy="0 0 0" />
            <inertia ixx="0.0003" iyy="0.0003" izz="0.0003" ixy="0" ixz="0" iyz="0"/>
        </inertial>
    </link>
	<link name="LeftPinky2">
        <inertial>
            <mass value="0.00896"/>
			<!--COM origin wrt jLeftPinky2-->
            <origin xyz="0    0.009078           0" rpy="0 0 0" />
            <inertia ixx="4.4453e-07" iyy="3.9679e-07" izz="4.4453e-07" ixy="0" ixz="0" iyz="0"/>
        </inertial>

        <visual>
			<!--box origin wrt jLeftPinky2-->
            <origin xyz="0    0.009078           0" rpy="1.5708 0 0" />
            <geometry>
                <cylinder length="0.018156" radius="0.0094112"/>
            </geometry>
        </visual>

        <collision>
			<!--box origin wrt jLeftPinky2-->
            <origin xyz="0    0.009078           0" rpy="1.5708 0 0" />
            <geometry>
                <cylinder length="0.018156" radius="0.0094112"/>
            </geometry>
        </collision>

    </link>
	<link name="LeftPinky3">
        <inertial>
            <mass value="0.00896"/>
			<!--COM origin wrt jLeftPinky3-->
            <origin xyz="0    0.006052           0" rpy="0 0 0" />
            <inertia ixx="3.0779e-07" iyy="3.9679e-07" izz="3.0779e-07" ixy="0" ixz="0" iyz="0"/>
        </inertial>

        <visual>
			<!--box origin wrt jLeftPinky3-->
            <origin xyz="0    0.006052           0" rpy="1.5708 0 0" />
            <geometry>
                <cylinder length="0.012104" radius="0.0094112"/>
            </geometry>
        </visual>

        <collision>
			<!--box origin wrt jLeftPinky3-->
            <origin xyz="0    0.006052           0" rpy="1.5708 0 0" />
            <geometry>
                <cylinder length="0.012104" radius="0.0094112"/>
            </geometry>
        </collision>

    </link>
	<link name="LeftRing1">
        <inertial>
            <mass value="0.0128"/>
			<!--COM origin wrt jLeftRing1-->
            <origin xyz="0     0.01819           0" rpy="0 0 0" />
            <inertia ixx="1.6952e-06" iyy="5.6685e-07" izz="1.6952e-06" ixy="0" ixz="0" iyz="0"/>
        </inertial>

        <visual>
			<!--box origin wrt jLeftRing1-->
            <origin xyz="0     0.01819           0" rpy="1.5708 0 0" />
            <geometry>
                <cylinder length="0.03638" radius="0.0094112"/>
            </geometry>
        </visual>

        <collision>
			<!--box origin wrt jLeftRing1-->
            <origin xyz="0     0.01819           0" rpy="1.5708 0 0" />
            <geometry>
                <cylinder length="0.03638" radius="0.0094112"/>
            </geometry>
        </collision>

    </link>
	<link name="LeftRing2_f1">
        <inertial>
            <mass value="0.0001"/>
            <origin xyz="0 0 0" rpy="0 0 0" />
            <inertia ixx="0.0003" iyy="0.0003" izz="0.0003" ixy="0" ixz="0" iyz="0"/>
        </inertial>
    </link>
	<link name="LeftRing2">
        <inertial>
            <mass value="0.0128"/>
			<!--COM origin wrt jLeftRing2-->
            <origin xyz="0    0.010914           0" rpy="0 0 0" />
            <inertia ixx="7.9165e-07" iyy="5.6685e-07" izz="7.9165e-07" ixy="0" ixz="0" iyz="0"/>
        </inertial>

        <visual>
			<!--box origin wrt jLeftRing2-->
            <origin xyz="0    0.010914           0" rpy="1.5708 0 0" />
            <geometry>
                <cylinder length="0.021828" radius="0.0094112"/>
            </geometry>
        </visual>

        <collision>
			<!--box origin wrt jLeftRing2-->
            <origin xyz="0    0.010914           0" rpy="1.5708 0 0" />
            <geometry>
                <cylinder length="0.021828" radius="0.0094112"/>
            </geometry>
        </collision>

    </link>
	<link name="LeftRing3">
        <inertial>
            <mass value="0.0128"/>
			<!--COM origin wrt jLeftRing3-->
            <origin xyz="0    0.007276           0" rpy="0 0 0" />
            <inertia ixx="5.093e-07" iyy="5.6685e-07" izz="5.093e-07" ixy="0" ixz="0" iyz="0"/>
        </inertial>

        <visual>
			<!--box origin wrt jLeftRing3-->
            <origin xyz="0    0.007276           0" rpy="1.5708 0 0" />
            <geometry>
                <cylinder length="0.014552" radius="0.0094112"/>
            </geometry>
        </visual>

        <collision>
			<!--box origin wrt jLeftRing3-->
            <origin xyz="0    0.007276           0" rpy="1.5708 0 0" />
            <geometry>
                <cylinder length="0.014552" radius="0.0094112"/>
            </geometry>
        </collision>

    </link>
	<link name="LeftMiddle1">
        <inertial>
            <mass value="0.0128"/>
			<!--COM origin wrt jLeftMiddle1-->
            <origin xyz="0    0.020315           0" rpy="0 0 0" />
            <inertia ixx="2.0443e-06" iyy="5.6685e-07" izz="2.0443e-06" ixy="0" ixz="0" iyz="0"/>
        </inertial>

        <visual>
			<!--box origin wrt jLeftMiddle1-->
            <origin xyz="0    0.020315           0" rpy="1.5708 0 0" />
            <geometry>
                <cylinder length="0.04063" radius="0.0094112"/>
            </geometry>
        </visual>

        <collision>
			<!--box origin wrt jLeftMiddle1-->
            <origin xyz="0    0.020315           0" rpy="1.5708 0 0" />
            <geometry>
                <cylinder length="0.04063" radius="0.0094112"/>
            </geometry>
        </collision>

    </link>
	<link name="LeftMiddle2_f1">
        <inertial>
            <mass value="0.0001"/>
            <origin xyz="0 0 0" rpy="0 0 0" />
            <inertia ixx="0.0003" iyy="0.0003" izz="0.0003" ixy="0" ixz="0" iyz="0"/>
        </inertial>
    </link>
	<link name="LeftMiddle2">
        <inertial>
            <mass value="0.0128"/>
			<!--COM origin wrt jLeftMiddle2-->
            <origin xyz="0    0.012189           0" rpy="0 0 0" />
            <inertia ixx="9.1733e-07" iyy="5.6685e-07" izz="9.1733e-07" ixy="0" ixz="0" iyz="0"/>
        </inertial>

        <visual>
			<!--box origin wrt jLeftMiddle2-->
            <origin xyz="0    0.012189           0" rpy="1.5708 0 0" />
            <geometry>
                <cylinder length="0.024378" radius="0.0094112"/>
            </geometry>
        </visual>

        <collision>
			<!--box origin wrt jLeftMiddle2-->
            <origin xyz="0    0.012189           0" rpy="1.5708 0 0" />
            <geometry>
                <cylinder length="0.024378" radius="0.0094112"/>
            </geometry>
        </collision>

    </link>
	<link name="LeftMiddle3">
        <inertial>
            <mass value="0.0128"/>
			<!--COM origin wrt jLeftMiddle3-->
            <origin xyz="0    0.008126           0" rpy="0 0 0" />
            <inertia ixx="5.6516e-07" iyy="5.6685e-07" izz="5.6516e-07" ixy="0" ixz="0" iyz="0"/>
        </inertial>

        <visual>
			<!--box origin wrt jLeftMiddle3-->
            <origin xyz="0    0.008126           0" rpy="1.5708 0 0" />
            <geometry>
                <cylinder length="0.016252" radius="0.0094112"/>
            </geometry>
        </visual>

        <collision>
			<!--box origin wrt jLeftMiddle3-->
            <origin xyz="0    0.008126           0" rpy="1.5708 0 0" />
            <geometry>
                <cylinder length="0.016252" radius="0.0094112"/>
            </geometry>
        </collision>

    </link>
	<link name="LeftIndex1">
        <inertial>
            <mass value="0.0128"/>
			<!--COM origin wrt jLeftIndex1-->
            <origin xyz="0    0.018402           0" rpy="0 0 0" />
            <inertia ixx="1.7283e-06" iyy="5.6685e-07" izz="1.7283e-06" ixy="0" ixz="0" iyz="0"/>
        </inertial>

        <visual>
			<!--box origin wrt jLeftIndex1-->
            <origin xyz="0    0.018402           0" rpy="1.5708 0 0" />
            <geometry>
                <cylinder length="0.036805" radius="0.0094112"/>
            </geometry>
        </visual>

        <collision>
			<!--box origin wrt jLeftIndex1-->
            <origin xyz="0    0.018402           0" rpy="1.5708 0 0" />
            <geometry>
                <cylinder length="0.036805" radius="0.0094112"/>
            </geometry>
        </collision>

    </link>
	<link name="LeftIndex2_f1">
        <inertial>
            <mass value="0.0001"/>
            <origin xyz="0 0 0" rpy="0 0 0" />
            <inertia ixx="0.0003" iyy="0.0003" izz="0.0003" ixy="0" ixz="0" iyz="0"/>
        </inertial>
    </link>
	<link name="LeftIndex2">
        <inertial>
            <mass value="0.0128"/>
			<!--COM origin wrt jLeftIndex2-->
            <origin xyz="0    0.011041           0" rpy="0 0 0" />
            <inertia ixx="8.0359e-07" iyy="5.6685e-07" izz="8.0359e-07" ixy="0" ixz="0" iyz="0"/>
        </inertial>

        <visual>
			<!--box origin wrt jLeftIndex2-->
            <origin xyz="0    0.011041           0" rpy="1.5708 0 0" />
            <geometry>
                <cylinder length="0.022083" radius="0.0094112"/>
            </geometry>
        </visual>

        <collision>
			<!--box origin wrt jLeftIndex2-->
            <origin xyz="0    0.011041           0" rpy="1.5708 0 0" />
            <geometry>
                <cylinder length="0.022083" radius="0.0094112"/>
            </geometry>
        </collision>

    </link>
	<link name="LeftIndex3">
        <inertial>
            <mass value="0.0128"/>
			<!--COM origin wrt jLeftIndex3-->
            <origin xyz="0    0.007361           0" rpy="0 0 0" />
            <inertia ixx="5.1461e-07" iyy="5.6685e-07" izz="5.1461e-07" ixy="0" ixz="0" iyz="0"/>
        </inertial>

        <visual>
			<!--box origin wrt jLeftIndex3-->
            <origin xyz="0    0.007361           0" rpy="1.5708 0 0" />
            <geometry>
                <cylinder length="0.014722" radius="0.0094112"/>
            </geometry>
        </visual>

        <collision>
			<!--box origin wrt jLeftIndex3-->
            <origin xyz="0    0.007361           0" rpy="1.5708 0 0" />
            <geometry>
                <cylinder length="0.014722" radius="0.0094112"/>
            </geometry>
        </collision>

    </link>
	<link name="LeftThumb1">
        <inertial>
            <mass value="0.01664"/>
			<!--COM origin wrt jLeftIndex1-->
            <origin xyz="0    0.027922           0" rpy="0 0 0" />
            <inertia ixx="4.693e-06" iyy="7.369e-07" izz="4.693e-06" ixy="0" ixz="0" iyz="0"/>
        </inertial>

        <visual>
			<!--box origin wrt jLeftThumb1-->
            <origin xyz="0    0.027922           0" rpy="1.5708 0 0" />
            <geometry>
                <cylinder length="0.055845" radius="0.0094112"/>
            </geometry>
        </visual>

        <collision>
			<!--box origin wrt jLeftThumb1-->
            <origin xyz="0    0.027922           0" rpy="1.5708 0 0" />
            <geometry>
                <cylinder length="0.055845" radius="0.0094112"/>
            </geometry>
        </collision>

    </link>
	<link name="LeftThumb2_f1">
        <inertial>
            <mass value="0.0001"/>
            <origin xyz="0 0 0" rpy="0 0 0" />
            <inertia ixx="0.0003" iyy="0.0003" izz="0.0003" ixy="0" ixz="0" iyz="0"/>
        </inertial>
    </link>
	<link name="LeftThumb2">
        <inertial>
            <mass value="0.01664"/>
			<!--COM origin wrt jLeftIndex2-->
            <origin xyz="0    0.018303           0" rpy="0 0 0" />
            <inertia ixx="2.2267e-06" iyy="7.369e-07" izz="2.2267e-06" ixy="0" ixz="0" iyz="0"/>
        </inertial>

        <visual>
			<!--box origin wrt jLeftThumb2-->
            <origin xyz="0    0.018303           0" rpy="1.5708 0 0" />
            <geometry>
                <cylinder length="0.036607" radius="0.0094112"/>
            </geometry>
        </visual>

        <collision>
			<!--box origin wrt jLeftThumb2-->
            <origin xyz="0    0.018303           0" rpy="1.5708 0 0" />
            <geometry>
                <cylinder length="0.036607" radius="0.0094112"/>
            </geometry>
        </collision>

    </link>
	<link name="LeftThumb3">
        <inertial>
            <mass value="0.01664"/>
			<!--COM origin wrt jLeftIndex3-->
            <origin xyz="0   0.0091517           0" rpy="0 0 0" />
            <inertia ixx="8.33e-07" iyy="7.369e-07" izz="8.33e-07" ixy="0" ixz="0" iyz="0"/>
        </inertial>

        <visual>
			<!--box origin wrt jLeftThumb3-->
            <origin xyz="0   0.0091517           0" rpy="1.5708 0 0" />
            <geometry>
                <cylinder length="0.018303" radius="0.0094112"/>
            </geometry>
        </visual>

        <collision>
			<!--box origin wrt jLeftThumb3-->
            <origin xyz="0   0.0091517           0" rpy="1.5708 0 0" />
            <geometry>
                <cylinder length="0.018303" radius="0.0094112"/>
            </geometry>
        </collision>

    </link>
	<!--Chain from (16) to (19)-->
	<link name="RightUpperLeg_f1">
        <inertial>
            <mass value="0.0001"/>
            <origin xyz="0 0 0" rpy="0 0 0" />
            <inertia ixx="0.0003" iyy="0.0003" izz="0.0003" ixy="0" ixz="0" iyz="0"/>
        </inertial>
    </link>
	<link name="RightUpperLeg_f2">
        <inertial>
            <mass value="0.0001"/>
            <origin xyz="0 0 0" rpy="0 0 0" />
            <inertia ixx="0.0003" iyy="0.0003" izz="0.0003" ixy="0" ixz="0" iyz="0"/>
        </inertial>
    </link>
    <link name="RightUpperLeg">
        <inertial>
            <mass value="8"/>
			<!--COM origin wrt jRightHip-->
            <origin xyz="0           0     -0.1404" rpy="0 0 0" />
            <inertia ixx="0.055145" iyy="0.055145" izz="0.0051631" ixy="0" ixz="0" iyz="0"/>
        </inertial>

        <visual>
			<!--box origin wrt jRightHip-->
            <origin xyz="0           0     -0.1404" rpy="0 0 0" />
            <geometry>
                <cylinder length="0.28079" radius="0.035928"/>
            </geometry>
        </visual>

        <collision>
			<!--box origin wrt jRightHip-->
            <origin xyz="0           0     -0.1404" rpy="0 0 0" />
            <geometry>
                <cylinder length="0.28079" radius="0.035928"/>
            </geometry>
        </collision>

    </link>
	<link name="RightLowerLeg_f1">
        <inertial>
            <mass value="0.0001"/>
            <origin xyz="0 0 0" rpy="0 0 0" />
            <inertia ixx="0.0003" iyy="0.0003" izz="0.0003" ixy="0" ixz="0" iyz="0"/>
        </inertial>
    </link>
    <link name="RightLowerLeg">
        <inertial>
            <mass value="2.336"/>
			<!--COM origin wrt jRightKnee-->
            <origin xyz="0           0    -0.23925" rpy="0 0 0" />
            <inertia ixx="0.045681" iyy="0.045681" izz="0.002219" ixy="0" ixz="0" iyz="0"/>
        </inertial>

        <visual>
			<!--box origin wrt jRightKnee-->
            <origin xyz="0           0    -0.23925" rpy="0 0 0" />
            <geometry>
                <cylinder length="0.4785" radius="0.043587"/>
            </geometry>
        </visual>

        <collision>
			<!--box origin wrt jRightKnee-->
            <origin xyz="0           0    -0.23925" rpy="0 0 0" />
            <geometry>
                <cylinder length="0.4785" radius="0.043587"/>
            </geometry>
        </collision>

    </link>
	<link name="RightFoot_f1">
        <inertial>
            <mass value="0.0001"/>
            <origin xyz="0 0 0" rpy="0 0 0" />
            <inertia ixx="0.0003" iyy="0.0003" izz="0.0003" ixy="0" ixz="0" iyz="0"/>
        </inertial>
    </link>
	<link name="RightFoot_f2">
        <inertial>
            <mass value="0.0001"/>
            <origin xyz="0 0 0" rpy="0 0 0" />
            <inertia ixx="0.0003" iyy="0.0003" izz="0.0003" ixy="0" ixz="0" iyz="0"/>
        </inertial>
    </link>
    <link name="RightFoot">
        <inertial>
            <mass value="0.832"/>
			<!--COM origin wrt jRightAnkle-->
            <origin xyz="0.059677           0   -0.057299" rpy="0 0 0" />
            <inertia ixx="0.0014374" iyy="0.0036895" izz="0.0033059" ixy="0" ixz="0" iyz="0"/>
        </inertial>

        <visual>
			<!--box origin wrt jRightAnkle-->
	    	<origin xyz="0.059677           0   -0.057299" rpy="0 0 0" />
            <geometry>
                <box size="0.2002    0.087174      0.1146"/>
            </geometry>
        </visual>

        <collision>
			<!--box origin wrt jRightAnkle-->
		    <origin xyz="0.059677           0   -0.057299" rpy="0 0 0" />
	            <geometry>
	                <box size="0.2002    0.087174      0.1146"/>
	            </geometry>
        </collision>

    </link>
    <link name="RightToe">
        <inertial>
            <mass value="0.096"/>
			<!--COM origin wrt jRightBallFoot-->
            <origin xyz="0.034896           0           0" rpy="0 0 0" />
            <inertia ixx="6.273e-05" iyy="4.0904e-05" izz="9.9763e-05" ixy="0" ixz="0" iyz="0"/>
        </inertial>

        <visual>
			<!--box origin wrt jRightBallFoot-->
            <origin xyz="0.034896           0           0" rpy="0 0 0" />
            <geometry>
                <box size="0.069793    0.087174    0.015554"/>
            </geometry>
        </visual>

        <collision>
			<!--box origin wrt jRightBallFoot-->
            <origin xyz="0.034896           0           0" rpy="0 0 0" />
            <geometry>
                <box size="0.069793    0.087174    0.015554"/>
            </geometry>
        </collision>
    </link>
	<!--Chain from (20) to (23)-->
	<link name="LeftUpperLeg_f1">
        <inertial>
            <mass value="0.0001"/>
            <origin xyz="0 0 0" rpy="0 0 0" />
            <inertia ixx="0.0003" iyy="0.0003" izz="0.0003" ixy="0" ixz="0" iyz="0"/>
        </inertial>
    </link>
	<link name="LeftUpperLeg_f2">
        <inertial>
            <mass value="0.0001"/>
            <origin xyz="0 0 0" rpy="0 0 0" />
            <inertia ixx="0.0003" iyy="0.0003" izz="0.0003" ixy="0" ixz="0" iyz="0"/>
        </inertial>
    </link>
    <link name="LeftUpperLeg">
        <inertial>
            <mass value="8"/>
			<!--COM origin wrt jLeftHip-->
            <origin xyz="0           0     -0.1404" rpy="0 0 0" />
            <inertia ixx="0.055145" iyy="0.055145" izz="0.0051631" ixy="0" ixz="0" iyz="0"/>
        </inertial>

        <visual>
			<!--box origin wrt jLeftHip-->
            <origin xyz="0           0     -0.1404" rpy="0 0 0" />
            <geometry>
                <cylinder length="0.28079" radius="0.035928"/>
            </geometry>
        </visual>

        <collision>
			<!--box origin wrt jLeftHip-->
            <origin xyz="0           0     -0.1404" rpy="0 0 0" />
            <geometry>
                <cylinder length="0.28079" radius="0.035928"/>
            </geometry>
        </collision>

    </link>
	<link name="LeftLowerLeg_f1">
        <inertial>
            <mass value="0.0001"/>
            <origin xyz="0 0 0" rpy="0 0 0" />
            <inertia ixx="0.0003" iyy="0.0003" izz="0.0003" ixy="0" ixz="0" iyz="0"/>
        </inertial>
    </link>
	<link name="LeftLowerLeg">
        <inertial>
            <mass value="2.336"/>
			<!--COM origin wrt jLeftKnee-->
            <origin xyz="0           0    -0.23925" rpy="0 0 0" />
            <inertia ixx="0.045681" iyy="0.045681" izz="0.002219" ixy="0" ixz="0" iyz="0"/>
        </inertial>

        <visual>
			<!--box origin wrt jLeftKnee-->
            <origin xyz="0           0    -0.23925" rpy="0 0 0" />
            <geometry>
		<cylinder length="0.4785" radius="0.043587"/>
            </geometry>
        </visual>

        <collision>
			<!--box origin wrt jLeftKnee-->
            <origin xyz="0           0    -0.23925" rpy="0 0 0" />
            <geometry>
		<cylinder length="0.4785" radius="0.043587"/>
            </geometry>
        </collision>

    </link>
	<link name="LeftFoot_f1">
        <inertial>
            <mass value="0.0001"/>
            <origin xyz="0 0 0" rpy="0 0 0" />
            <inertia ixx="0.0003" iyy="0.0003" izz="0.0003" ixy="0" ixz="0" iyz="0"/>
        </inertial>
    </link>
	<link name="LeftFoot_f2">
        <inertial>
            <mass value="0.0001"/>
            <origin xyz="0 0 0" rpy="0 0 0" />
            <inertia ixx="0.0003" iyy="0.0003" izz="0.0003" ixy="0" ixz="0" iyz="0"/>
        </inertial>
    </link>
    <link name="LeftFoot">
        <inertial>
            <mass value="0.832"/>
			<!--COM origin wrt jLeftAnkle-->
            <origin xyz="0.059677           0   -0.057299" rpy="0 0 0" />
            <inertia ixx="0.0014374" iyy="0.0036895" izz="0.0033059" ixy="0" ixz="0" iyz="0"/>
        </inertial>

        <visual>
			<!--box origin wrt jLeftAnkle-->
	   	 	<origin xyz="0.059677           0   -0.057299" rpy="0 0 0" />
            <geometry>
                <box size="0.2002    0.087174      0.1146"/>
            </geometry>
        </visual>

        <collision>
			<!--box origin wrt jLeftAnkle-->
		    <origin xyz="0.059677           0   -0.057299" rpy="0 0 0" />
	            <geometry>
	                <box size="0.2002    0.087174      0.1146"/>
	            </geometry>
        </collision>

    </link>
	<link name="LeftToe">
        <inertial>
            <mass value="0.096"/>
			<!--COM origin wrt jLeftBallFoot-->
            <origin xyz="0.034896           0           0" rpy="0 0 0" />
            <inertia ixx="6.273e-05" iyy="4.0904e-05" izz="9.9763e-05" ixy="0" ixz="0" iyz="0"/>
        </inertial>

        <visual>
			<!--box origin wrt jLeftBallFoot-->
            <origin xyz="0.034896           0           0" rpy="0 0 0" />
            <geometry>
                <box size="0.069793    0.087174    0.015554"/>
            </geometry>
        </visual>

        <collision>
			<!--box origin wrt jLeftBallFoot-->
            <origin xyz="0.034896           0           0" rpy="0 0 0" />
            <geometry>
                <box size="0.069793    0.087174    0.015554"/>
            </geometry>
        </collision>
    </link>


	<!--JOINTS-->
	<!--Chain from (2) to (7)-->
	<joint name="jL5S1_rotx" type="revolute">
        <origin xyz="-0.012021           0     0.10819" rpy="0 0 0"/>
        <parent link="Pelvis"/>
        <child link="L5_f1"/>
        <dynamics damping="0.1" friction="0.0"/>
        <limit effort="30" velocity="1.0" lower="-0.610865" upper="0.610865" />
        <axis xyz="1 0 0" />
    </joint>
	<joint name="jL5S1_roty" type="revolute">
        <origin xyz="0 0 0" rpy="0 0 0"/>
        <parent link="L5_f1"/>
        <child link="L5"/>
        <dynamics damping="0.1" friction="0.0"/>
        <limit effort="30" velocity="1.0" lower="-0.523599" upper="1.309" />
        <axis xyz="0 1 0" />
    </joint>
	<joint name="jL4L3_rotx" type="revolute">
        <origin xyz="0           0    0.096078" rpy="0 0 0"/>
        <parent link="L5"/>
        <child link="L3_f1"/>
        <dynamics damping="0.1" friction="0.0"/>
        <limit effort="30" velocity="1.0" lower="-0.610865" upper="0.610865" />
        <axis xyz="1 0 0" />
    </joint>
	<joint name="jL4L3_roty" type="revolute">
        <origin xyz="0 0 0" rpy="0 0 0"/>
        <parent link="L3_f1"/>
        <child link="L3"/>
        <dynamics damping="0.1" friction="0.0"/>
        <limit effort="30" velocity="1.0" lower="-0.523599" upper="1.309" />
        <axis xyz="0 1 0" />
    </joint>
	<joint name="jL1T12_rotx" type="revolute">
        <origin xyz="-0.000189           0    0.087742" rpy="0 0 0"/>
        <parent link="L3"/>
        <child link="T12_f1"/>
        <dynamics damping="0.1" friction="0.0"/>
        <limit effort="30" velocity="1.0" lower="-0.610865" upper="0.610865" />
        <axis xyz="1 0 0" />
    </joint>
	<joint name="jL1T12_roty" type="revolute">
        <origin xyz="0 0 0" rpy="0 0 0"/>
        <parent link="T12_f1"/>
        <child link="T12"/>
        <dynamics damping="0.1" friction="0.0"/>
        <limit effort="30" velocity="1.0" lower="-0.523599" upper="1.309" />
        <axis xyz="0 1 0" />
    </joint>
	<joint name="jT9T8_rotx" type="revolute">
        <origin xyz="-0.000189           0    0.087644" rpy="0 0 0"/>
        <parent link="T12"/>
        <child link="T8_f1"/>
        <dynamics damping="0.1" friction="0.0"/>
        <limit effort="30" velocity="1.0" lower="-0.349066" upper="0.349066" />
        <axis xyz="1 0 0" />
    </joint>
	<joint name="jT9T8_roty" type="revolute">
        <origin xyz="0 0 0" rpy="0 0 0"/>
        <parent link="T8_f1"/>
        <child link="T8_f2"/>
        <dynamics damping="0.1" friction="0.0"/>
        <limit effort="30" velocity="1.0" lower="-0.261799" upper="0.698132" />
        <axis xyz="0 1 0" />
    </joint>
    <joint name="jT9T8_rotz" type="revolute">
        <origin xyz="0 0 0" rpy="0 0 0"/>
        <parent link="T8_f2"/>
        <child link="T8"/>
        <dynamics damping="0.1" friction="0.0"/>
        <limit effort="30" velocity="1.0" lower="-0.610865" upper="0.610865" />
        <axis xyz="0 0 1" />
    </joint>
	<joint name="jT1C7_rotx" type="revolute">
        <origin xyz="0           0     0.12234" rpy="0 0 0"/>
        <parent link="T8"/>
        <child link="Neck_f1"/>
        <dynamics damping="0.1" friction="0.0"/>
        <limit effort="30" velocity="1.0" lower="-0.610865" upper="0.610865" />
        <axis xyz="1 0 0" />
    </joint>
	<joint name="jT1C7_roty" type="revolute">
        <origin xyz="0 0 0" rpy="0 0 0"/>
        <parent link="Neck_f1"/>
        <child link="Neck_f2"/>
        <dynamics damping="0.1" friction="0.0"/>
        <limit effort="30" velocity="1.0" lower="-0.959931" upper="1.5708" />
        <axis xyz="0 1 0" />
    </joint>
    <joint name="jT1C7_rotz" type="revolute">
        <origin xyz="0 0 0" rpy="0 0 0"/>
        <parent link="Neck_f2"/>
        <child link="Neck"/>
        <dynamics damping="0.1" friction="0.0"/>
        <limit effort="30" velocity="1.0" lower="-1.22173" upper="1.22173" />
        <axis xyz="0 0 1" />
    </joint>
	<joint name="jC1Head_rotx" type="revolute">
        <origin xyz="-0.000164           0    0.088787" rpy="0 0 0"/>
        <parent link="Neck"/>
        <child link="Head_f1"/>
        <dynamics damping="0.1" friction="0.0"/>
        <limit effort="30" velocity="1.0" lower="-0.610865" upper="0.610865" />
        <axis xyz="1 0 0" />
    </joint>
	<joint name="jC1Head_roty" type="revolute">
        <origin xyz="0 0 0" rpy="0 0 0"/>
        <parent link="Head_f1"/>
        <child link="Head"/>
        <dynamics damping="0.1" friction="0.0"/>
        <limit effort="30" velocity="1.0" lower="-0.436332" upper="0.174533" />
        <axis xyz="0 1 0" />
    </joint>
	<!--Chain from (8) to (11)-->
	<joint name="jRightC7Shoulder_rotx" type="revolute">
        <origin xyz="0   -0.026703    0.068689" rpy="0 0 0"/>
        <parent link="T8"/>
        <child link="RightShoulder"/>
        <dynamics damping="0.1" friction="0.0"/>
        <limit effort="30" velocity="1.0" lower="-0.0872665" upper="0.785398" />
        <axis xyz="1 0 0" />
    </joint>
	<joint name="jRightShoulder_rotx" type="revolute">
        <origin xyz="0    -0.12779           0" rpy="0 0 0"/>
        <parent link="RightShoulder"/>
        <child link="RightUpperArm_f1"/>
        <dynamics damping="0.1" friction="0.0"/>
        <limit effort="30" velocity="1.0" lower="-2.35619" upper="1.5708" />
        <axis xyz="1 0 0" />
    </joint>
	<joint name="jRightShoulder_roty" type="revolute">
        <origin xyz="0 0 0" rpy="0 0 0"/>
        <parent link="RightUpperArm_f1"/>
        <child link="RightUpperArm_f2"/>
        <dynamics damping="0.1" friction="0.0"/>
        <limit effort="30" velocity="1.0" lower="-1.5708" upper="1.5708" />
        <axis xyz="0 1 0" />
    </joint>
    <joint name="jRightShoulder_rotz" type="revolute">
        <origin xyz="0 0 0" rpy="0 0 0"/>
        <parent link="RightUpperArm_f2"/>
        <child link="RightUpperArm"/>
        <dynamics damping="0.1" friction="0.0"/>
        <limit effort="30" velocity="1.0" lower="-0.785398" upper="3.14159" />
        <axis xyz="0 0 1" />
    </joint>
	<joint name="jRightElbow_roty" type="revolute">
        <origin xyz="0     -0.2584           0" rpy="0 0 0"/>
        <parent link="RightUpperArm"/>
        <child link="RightForeArm_f1"/>
        <dynamics damping="0.1" friction="0.0"/>
        <limit effort="30" velocity="1.0" lower="-1.5708" upper="1.48353" />
        <axis xyz="0 1 0" />
    </joint>
	<joint name="jRightElbow_rotz" type="revolute">
        <origin xyz="0 0 0" rpy="0 0 0"/>
        <parent link="RightForeArm_f1"/>
        <child link="RightForeArm"/>
        <dynamics damping="0.1" friction="0.0"/>
        <limit effort="30" velocity="1.0" lower="0" upper="2.53073" />
        <axis xyz="0 0 1" />
    </joint>
	<joint name="jRightWrist_rotx" type="revolute">
        <origin xyz="8.9e-05    -0.21329           0" rpy="0 0 0"/>
        <parent link="RightForeArm"/>
        <child link="RightWrist_f1"/>
        <dynamics damping="0.1" friction="0.0"/>
        <limit effort="30" velocity="1.0" lower="-0.872665" upper="1.0472" />
        <axis xyz="1 0 0" />
    </joint>
	<joint name="jRightWrist_rotz" type="revolute">
        <origin xyz="0 0 0" rpy="0 0 0"/>
        <parent link="RightWrist_f1"/>
        <child link="RightPalmCloseToThumb"/>
        <dynamics damping="0.1" friction="0.0"/>
        <limit effort="30" velocity="1.0" lower="-0.523599" upper="0.349066" />
        <axis xyz="0 0 1" />
    </joint>
	<!--RIGHT HAND-->
	<joint name="jRightPalm_roty" type="revolute">
        <origin xyz="0    -0.03695           0" rpy="0 0 0"/>
        <parent link="RightPalmCloseToThumb"/>
        <child link="RightPalmFarFromThumb"/>
        <dynamics damping="0.1" friction="0.0"/>
        <limit effort="30" velocity="1.0" lower="-10" upper="10" />
        <axis xyz="0 1 0" />
    </joint>
	<joint name="jRightPinky1_rotx" type="revolute">
        <origin xyz="-0.027711    -0.03695           0" rpy="0 0 0"/>
        <parent link="RightPalmFarFromThumb"/>
        <child link="RightPinky1"/>
        <dynamics damping="0.1" friction="0.0"/>
        <limit effort="30" velocity="1.0" lower="-2.35619" upper="1.5708" />
        <axis xyz="1 0 0" />
    </joint>
	<joint name="jRightPinky1_rotz" type="revolute">
        <origin xyz="0 0 0" rpy="0 0 0"/>
        <parent link="RightPinky1"/>
        <child link="RightPinky2_f1"/>
        <dynamics damping="0.1" friction="0.0"/>
        <limit effort="30" velocity="1.0" lower="-10" upper="10" />
        <axis xyz="0 0 1" />
    </joint>
	<joint name="jRightPinky2_rotx" type="revolute">
        <origin xyz="0   -0.029502           0" rpy="0 0 0"/>
        <parent link="RightPinky2_f1"/>
        <child link="RightPinky2"/>
        <dynamics damping="0.1" friction="0.0"/>
        <limit effort="30" velocity="1.0" lower="-2.35619" upper="1.5708" />
        <axis xyz="1 0 0" />
    </joint>
	<joint name="jRightPinky3_rotx" type="revolute">
        <origin xyz="0   -0.017701           0" rpy="0 0 0"/>
        <parent link="RightPinky2"/>
        <child link="RightPinky3"/>
        <dynamics damping="0.1" friction="0.0"/>
        <limit effort="30" velocity="1.0" lower="-2.35619" upper="1.5708" />
        <axis xyz="1 0 0" />
    </joint>
	<joint name="jRightRing1_rotx" type="revolute">
        <origin xyz="-0.011103    -0.03695           0" rpy="0 0 0"/>
        <parent link="RightPalmFarFromThumb"/>
        <child link="RightRing1"/>
        <dynamics damping="0.1" friction="0.0"/>
        <limit effort="30" velocity="1.0" lower="-2.35619" upper="1.5708" />
        <axis xyz="1 0 0" />
    </joint>
	<joint name="jRightRing1_rotz" type="revolute">
        <origin xyz="0 0 0" rpy="0 0 0"/>
        <parent link="RightRing1"/>
        <child link="RightRing2_f1"/>
        <dynamics damping="0.1" friction="0.0"/>
        <limit effort="30" velocity="1.0" lower="-10" upper="10" />
        <axis xyz="0 0 1" />
    </joint>
	<joint name="jRightRing2_rotx" type="revolute">
        <origin xyz="0   -0.045055           0" rpy="0 0 0"/>
        <parent link="RightRing2_f1"/>
        <child link="RightRing2"/>
        <dynamics damping="0.1" friction="0.0"/>
        <limit effort="30" velocity="1.0" lower="-2.35619" upper="1.5708" />
        <axis xyz="1 0 0" />
    </joint>
	<joint name="jRightRing3_rotx" type="revolute">
        <origin xyz="0   -0.027033           0" rpy="0 0 0"/>
        <parent link="RightRing2"/>
        <child link="RightRing3"/>
        <dynamics damping="0.1" friction="0.0"/>
        <limit effort="30" velocity="1.0" lower="-2.35619" upper="1.5708" />
        <axis xyz="1 0 0" />
    </joint>
	<joint name="jRightMiddle1_rotx" type="revolute">
        <origin xyz="0.004449     -0.0739           0" rpy="0 0 0"/>
        <parent link="RightPalmCloseToThumb"/>
        <child link="RightMiddle1"/>
        <dynamics damping="0.1" friction="0.0"/>
        <limit effort="30" velocity="1.0" lower="-2.35619" upper="1.5708" />
        <axis xyz="1 0 0" />
    </joint>
	<joint name="jRightMiddle1_rotz" type="revolute">
        <origin xyz="0 0 0" rpy="0 0 0"/>
        <parent link="RightMiddle1"/>
        <child link="RightMiddle2_f1"/>
        <dynamics damping="0.1" friction="0.0"/>
        <limit effort="30" velocity="1.0" lower="-10" upper="10" />
        <axis xyz="0 0 1" />
    </joint>
	<joint name="jRightMiddle2_rotx" type="revolute">
        <origin xyz="0   -0.052304           0" rpy="0 0 0"/>
        <parent link="RightMiddle2_f1"/>
        <child link="RightMiddle2"/>
        <dynamics damping="0.1" friction="0.0"/>
        <limit effort="30" velocity="1.0" lower="-2.35619" upper="1.5708" />
        <axis xyz="1 0 0" />
    </joint>
	<joint name="jRightMiddle3_rotx" type="revolute">
        <origin xyz="0   -0.031383           0" rpy="0 0 0"/>
        <parent link="RightMiddle2"/>
        <child link="RightMiddle3"/>
        <dynamics damping="0.1" friction="0.0"/>
        <limit effort="30" velocity="1.0" lower="-2.35619" upper="1.5708" />
        <axis xyz="1 0 0" />
    </joint>
	<joint name="jRightIndex1_rotx" type="revolute">
        <origin xyz="0.025514     -0.0739           0" rpy="0 0 0"/>
        <parent link="RightPalmCloseToThumb"/>
        <child link="RightIndex1"/>
        <dynamics damping="0.1" friction="0.0"/>
        <limit effort="30" velocity="1.0" lower="-2.35619" upper="1.5708" />
        <axis xyz="1 0 0" />
    </joint>
	<joint name="jRightIndex1_rotz" type="revolute">
        <origin xyz="0 0 0" rpy="0 0 0"/>
        <parent link="RightIndex1"/>
        <child link="RightIndex2_f1"/>
        <dynamics damping="0.1" friction="0.0"/>
        <limit effort="30" velocity="1.0" lower="-10" upper="10" />
        <axis xyz="0 0 1" />
    </joint>
	<joint name="jRightIndex2_rotx" type="revolute">
        <origin xyz="0   -0.046517           0" rpy="0 0 0"/>
        <parent link="RightIndex2_f1"/>
        <child link="RightIndex2"/>
        <dynamics damping="0.1" friction="0.0"/>
        <limit effort="30" velocity="1.0" lower="-2.35619" upper="1.5708" />
        <axis xyz="1 0 0" />
    </joint>
	<joint name="jRightIndex3_rotx" type="revolute">
        <origin xyz="0    -0.02791           0" rpy="0 0 0"/>
        <parent link="RightIndex2"/>
        <child link="RightIndex3"/>
        <dynamics damping="0.1" friction="0.0"/>
        <limit effort="30" velocity="1.0" lower="-2.35619" upper="1.5708" />
        <axis xyz="1 0 0" />
    </joint>
	<joint name="jRightThumb1_roty" type="revolute">
        <origin xyz="0.037673   -0.027712           0" rpy="0 0 0"/>
        <parent link="RightPalmCloseToThumb"/>
        <child link="RightThumb1"/>
        <dynamics damping="0.1" friction="0.0"/>
        <limit effort="30" velocity="1.0" lower="-1.5708" upper="1.48353" />
        <axis xyz="0 1 0" />
    </joint>
	<joint name="jRightThumb1_rotz" type="revolute">
        <origin xyz="0 0 0" rpy="0 0 0"/>
        <parent link="RightThumb1"/>
        <child link="RightThumb2_f1"/>
        <dynamics damping="0.1" friction="0.0"/>
        <limit effort="30" velocity="1.0" lower="-1.5708" upper="1.48353" />
        <axis xyz="0 0 1" />
    </joint>
	<joint name="jRightThumb2_rotx" type="revolute">
        <origin xyz="0   -0.042229           0" rpy="0 0 0"/>
        <parent link="RightThumb2_f1"/>
        <child link="RightThumb2"/>
        <dynamics damping="0.1" friction="0.0"/>
        <limit effort="30" velocity="1.0" lower="-2.35619" upper="1.5708" />
        <axis xyz="1 0 0" />
    </joint>
	<joint name="jRightThumb3_rotx" type="revolute">
        <origin xyz="0   -0.021615           0" rpy="0 0 0"/>
        <parent link="RightThumb2"/>
        <child link="RightThumb3"/>
        <dynamics damping="0.1" friction="0.0"/>
        <limit effort="30" velocity="1.0" lower="-2.35619" upper="1.5708" />
        <axis xyz="1 0 0" />
    </joint>
	<!--Chain from (12) to (15)-->
	<joint name="jLeftC7Shoulder_rotx" type="revolute">
        <origin xyz="0    0.026703    0.068689" rpy="0 0 0"/>
        <parent link="T8"/>
        <child link="LeftShoulder"/>
        <dynamics damping="0.1" friction="0.0"/>
        <limit effort="30" velocity="1.0" lower="-0.0872665" upper="0.785398" />
        <axis xyz="1 0 0" />
    </joint>
	<joint name="jLeftShoulder_rotx" type="revolute">
        <origin xyz="0     0.12779           0" rpy="0 0 0"/>
        <parent link="LeftShoulder"/>
        <child link="LeftUpperArm_f1"/>
        <dynamics damping="0.1" friction="0.0"/>
        <limit effort="30" velocity="1.0" lower="-1.5708" upper="2.35619" />
        <axis xyz="1 0 0" />
    </joint>
	<joint name="jLeftShoulder_roty" type="revolute">
        <origin xyz="0 0 0" rpy="0 0 0"/>
        <parent link="LeftUpperArm_f1"/>
        <child link="LeftUpperArm_f2"/>
        <dynamics damping="0.1" friction="0.0"/>
        <limit effort="30" velocity="1.0" lower="-1.5708" upper="1.5708" />
        <axis xyz="0 1 0" />
    </joint>
    <joint name="jLeftShoulder_rotz" type="revolute">
        <origin xyz="0 0 0" rpy="0 0 0"/>
        <parent link="LeftUpperArm_f2"/>
        <child link="LeftUpperArm"/>
        <dynamics damping="0.1" friction="0.0"/>
        <limit effort="30" velocity="1.0" lower="-3.14159" upper="0.785398" />
        <axis xyz="0 0 1" />
    </joint>
    <joint name="jLeftElbow_roty" type="revolute">
        <origin xyz="0      0.2584           0" rpy="0 0 0"/>
        <parent link="LeftUpperArm"/>
        <child link="LeftForeArm_f1"/>
        <dynamics damping="0.1" friction="0.0"/>
        <limit effort="30" velocity="1.0" lower="-1.5708" upper="1.48353" />
        <axis xyz="0 1 0" />
    </joint>
    <joint name="jLeftElbow_rotz" type="revolute">
        <origin xyz="0 0 0" rpy="0 0 0"/>
        <parent link="LeftForeArm_f1"/>
        <child link="LeftForeArm"/>
        <dynamics damping="0.1" friction="0.0"/>
        <limit effort="30" velocity="1.0" lower="-2.53073" upper="0" />
        <axis xyz="0 0 1" />
    </joint>
	<joint name="jLeftWrist_rotx" type="revolute">
        <origin xyz="8.9e-05     0.21329           0" rpy="0 0 0"/>
        <parent link="LeftForeArm"/>
        <child link="LeftWrist_f1"/>
        <dynamics damping="0.1" friction="0.0"/>
        <limit effort="30" velocity="1.0" lower="-1.0472" upper="0.872665" />
        <axis xyz="1 0 0" />
    </joint>
	<joint name="jLeftWrist_rotz" type="revolute">
        <origin xyz="0 0 0" rpy="0 0 0"/>
        <parent link="LeftWrist_f1"/>
        <child link="LeftPalmCloseToThumb"/>
        <dynamics damping="0.1" friction="0.0"/>
        <limit effort="30" velocity="1.0" lower="-0.349066" upper="0.523599" />
        <axis xyz="0 0 1" />
    </joint>
	<!--LEFT HAND-->
	<joint name="jLeftPalm_roty" type="revolute">
        <origin xyz="0    0.055845           0" rpy="0 0 0"/>
        <parent link="LeftPalmCloseToThumb"/>
        <child link="LeftPalmFarFromThumb"/>
        <dynamics damping="0.1" friction="0.0"/>
        <limit effort="30" velocity="1.0" lower="-10" upper="10" />
        <axis xyz="0 1 0" />
    </joint>
	<joint name="jLeftPinky1_rotx" type="revolute">
	    <origin xyz="-0.030727    0.055845           0" rpy="0 0 0"/>
	    <parent link="LeftPalmFarFromThumb"/>
	    <child link="LeftPinky1"/>
	    <dynamics damping="0.1" friction="0.0"/>
	    <limit effort="30" velocity="1.0" lower="-2.35619" upper="1.5708" />
	    <axis xyz="1 0 0" />
	</joint>
	<joint name="jLeftPinky1_rotz" type="revolute">
        <origin xyz="0 0 0" rpy="0 0 0"/>
        <parent link="LeftPinky1"/>
        <child link="LeftPinky2_f1"/>
        <dynamics damping="0.1" friction="0.0"/>
        <limit effort="30" velocity="1.0" lower="-10" upper="10" />
        <axis xyz="0 0 1" />
    </joint>
	<joint name="jLeftPinky2_rotx" type="revolute">
	    <origin xyz="0     0.03026           0" rpy="0 0 0"/>
	    <parent link="LeftPinky2_f1"/>
	    <child link="LeftPinky2"/>
	    <dynamics damping="0.1" friction="0.0"/>
	    <limit effort="30" velocity="1.0" lower="-2.35619" upper="1.5708" />
	    <axis xyz="1 0 0" />
	</joint>
	<joint name="jLeftPinky3_rotx" type="revolute">
	    <origin xyz="0    0.018156           0" rpy="0 0 0"/>
	    <parent link="LeftPinky2"/>
	    <child link="LeftPinky3"/>
	    <dynamics damping="0.1" friction="0.0"/>
	    <limit effort="30" velocity="1.0" lower="-2.35619" upper="1.5708" />
	    <axis xyz="1 0 0" />
	</joint>
	<joint name="jLeftRing1_rotx" type="revolute">
	    <origin xyz="-0.010242    0.055845           0" rpy="0 0 0"/>
	    <parent link="LeftPalmFarFromThumb"/>
	    <child link="LeftRing1"/>
	    <dynamics damping="0.1" friction="0.0"/>
	    <limit effort="30" velocity="1.0" lower="-2.35619" upper="1.5708" />
	    <axis xyz="1 0 0" />
	</joint>
	<joint name="jLeftRing1_rotz" type="revolute">
        <origin xyz="0 0 0" rpy="0 0 0"/>
        <parent link="LeftRing1"/>
        <child link="LeftRing2_f1"/>
        <dynamics damping="0.1" friction="0.0"/>
        <limit effort="30" velocity="1.0" lower="-10" upper="10" />
        <axis xyz="0 0 1" />
    </joint>
	<joint name="jLeftRing2_rotx" type="revolute">
	    <origin xyz="0     0.03638           0" rpy="0 0 0"/>
	    <parent link="LeftRing2_f1"/>
	    <child link="LeftRing2"/>
	    <dynamics damping="0.1" friction="0.0"/>
	    <limit effort="30" velocity="1.0" lower="-2.35619" upper="1.5708" />
	    <axis xyz="1 0 0" />
	</joint>
	<joint name="jLeftRing3_rotx" type="revolute">
	    <origin xyz="0    0.021828           0" rpy="0 0 0"/>
	    <parent link="LeftRing2"/>
	    <child link="LeftRing3"/>
	    <dynamics damping="0.1" friction="0.0"/>
	    <limit effort="30" velocity="1.0" lower="-2.35619" upper="1.5708" />
	    <axis xyz="1 0 0" />
	</joint>
	<joint name="jLeftMiddle1_rotx" type="revolute">
	    <origin xyz="0.010242     0.11169           0" rpy="0 0 0"/>
	    <parent link="LeftPalmCloseToThumb"/>
	    <child link="LeftMiddle1"/>
	    <dynamics damping="0.1" friction="0.0"/>
	    <limit effort="30" velocity="1.0" lower="-2.35619" upper="1.5708" />
	    <axis xyz="1 0 0" />
	</joint>
	<joint name="jLeftMiddle1_rotz" type="revolute">
        <origin xyz="0 0 0" rpy="0 0 0"/>
        <parent link="LeftMiddle1"/>
        <child link="LeftMiddle2_f1"/>
        <dynamics damping="0.1" friction="0.0"/>
        <limit effort="30" velocity="1.0" lower="-10" upper="10" />
        <axis xyz="0 0 1" />
    </joint>
	<joint name="jLeftMiddle2_rotx" type="revolute">
	    <origin xyz="0     0.04063           0" rpy="0 0 0"/>
	    <parent link="LeftMiddle2_f1"/>
	    <child link="LeftMiddle2"/>
	    <dynamics damping="0.1" friction="0.0"/>
	    <limit effort="30" velocity="1.0" lower="-2.35619" upper="1.5708" />
	    <axis xyz="1 0 0" />
	</joint>
	<joint name="jLeftMiddle3_rotx" type="revolute">
	    <origin xyz="0    0.024378           0" rpy="0 0 0"/>
	    <parent link="LeftMiddle2"/>
	    <child link="LeftMiddle3"/>
	    <dynamics damping="0.1" friction="0.0"/>
	    <limit effort="30" velocity="1.0" lower="-2.35619" upper="1.5708" />
	    <axis xyz="1 0 0" />
	</joint>
	<joint name="jLeftIndex1_rotx" type="revolute">
	    <origin xyz="0.030727     0.11169           0" rpy="0 0 0"/>
	    <parent link="LeftPalmCloseToThumb"/>
	    <child link="LeftIndex1"/>
	    <dynamics damping="0.1" friction="0.0"/>
	    <limit effort="30" velocity="1.0" lower="-2.35619" upper="1.5708" />
	    <axis xyz="1 0 0" />
	</joint>
	<joint name="jLeftIndex1_rotz" type="revolute">
        <origin xyz="0 0 0" rpy="0 0 0"/>
        <parent link="LeftIndex1"/>
        <child link="LeftIndex2_f1"/>
        <dynamics damping="0.1" friction="0.0"/>
        <limit effort="30" velocity="1.0" lower="-10" upper="10" />
        <axis xyz="0 0 1" />
    </joint>
	<joint name="jLeftIndex2_rotx" type="revolute">
	    <origin xyz="0    0.036805           0" rpy="0 0 0"/>
	    <parent link="LeftIndex2_f1"/>
	    <child link="LeftIndex2"/>
	    <dynamics damping="0.1" friction="0.0"/>
	    <limit effort="30" velocity="1.0" lower="-2.35619" upper="1.5708" />
	    <axis xyz="1 0 0" />
	</joint>
	<joint name="jLeftIndex3_rotx" type="revolute">
	    <origin xyz="0    0.022083           0" rpy="0 0 0"/>
	    <parent link="LeftIndex2"/>
	    <child link="LeftIndex3"/>
	    <dynamics damping="0.1" friction="0.0"/>
	    <limit effort="30" velocity="1.0" lower="-2.35619" upper="1.5708" />
	    <axis xyz="1 0 0" />
	</joint>
	<joint name="jLeftThumb1_roty" type="revolute">
	    <origin xyz="0.04097    0.013961           0" rpy="0 0 0"/>
	    <parent link="LeftPalmCloseToThumb"/>
	    <child link="LeftThumb1"/>
	    <dynamics damping="0.1" friction="0.0"/>
	    <limit effort="30" velocity="1.0" lower="-1.5708" upper="1.48353" />
	    <axis xyz="0 1 0" />
	</joint>
	<joint name="jLeftThumb1_rotz" type="revolute">
        <origin xyz="0 0 0" rpy="0 0 0"/>
        <parent link="LeftThumb1"/>
        <child link="LeftThumb2_f1"/>
        <dynamics damping="0.1" friction="0.0"/>
        <limit effort="30" velocity="1.0" lower="-1.5708" upper="1.48353" />
        <axis xyz="0 0 1" />
    </joint>
	<joint name="jLeftThumb2_rotx" type="revolute">
	    <origin xyz="0    0.055845           0" rpy="0 0 0"/>
	    <parent link="LeftThumb2_f1"/>
	    <child link="LeftThumb2"/>
	    <dynamics damping="0.1" friction="0.0"/>
	    <limit effort="30" velocity="1.0" lower="-2.35619" upper="1.5708" />
	    <axis xyz="1 0 0" />
	</joint>
	<joint name="jLeftThumb3_rotx" type="revolute">
	    <origin xyz="0    0.036607           0" rpy="0 0 0"/>
	    <parent link="LeftThumb2"/>
	    <child link="LeftThumb3"/>
	    <dynamics damping="0.1" friction="0.0"/>
	    <limit effort="30" velocity="1.0" lower="-2.35619" upper="1.5708" />
	    <axis xyz="1 0 0" />
	</joint>
	<!--Chain from (16) to (19)-->
	<joint name="jRightHip_rotx" type="revolute">
        <origin xyz="-5.3e-05   -0.089713    0.000476" rpy="0 0 0"/>
        <parent link="Pelvis"/>
        <child link="RightUpperLeg_f1"/>
        <dynamics damping="0.1" friction="0.0"/>
        <limit effort="30" velocity="1.0" lower="-0.523599" upper="0.785398" />
        <axis xyz="1 0 0" />
    </joint>
	<joint name="jRightHip_roty" type="revolute">
        <origin xyz="0 0 0" rpy="0 0 0"/>
        <parent link="RightUpperLeg_f1"/>
        <child link="RightUpperLeg_f2"/>
        <dynamics damping="0.1" friction="0.0"/>
        <limit effort="30" velocity="1.0" lower="-0.261799" upper="2.0944" />
        <axis xyz="0 1 0" />
    </joint>
    <joint name="jRightHip_rotz" type="revolute">
        <origin xyz="0 0 0" rpy="0 0 0"/>
        <parent link="RightUpperLeg_f2"/>
        <child link="RightUpperLeg"/>
        <dynamics damping="0.1" friction="0.0"/>
        <limit effort="30" velocity="1.0" lower="-0.785398" upper="0.785398" />
        <axis xyz="0 0 1" />
    </joint>
	<joint name="jRightKnee_roty" type="revolute">
        <origin xyz="-0.000202           0    -0.28079" rpy="0 0 0"/>
        <parent link="RightUpperLeg"/>
        <child link="RightLowerLeg_f1"/>
        <dynamics damping="0.1" friction="0.0"/>
        <limit effort="30" velocity="1.0" lower="0" upper="2.35619" />
        <axis xyz="0 1 0" />
    </joint>
	<joint name="jRightKnee_rotz" type="revolute">
        <origin xyz="0 0 0" rpy="0 0 0"/>
        <parent link="RightLowerLeg_f1"/>
        <child link="RightLowerLeg"/>
        <dynamics damping="0.1" friction="0.0"/>
        <limit effort="30" velocity="1.0" lower="-0.698132" upper="0.523599" />
        <axis xyz="0 0 1" />
    </joint>
	<joint name="jRightAnkle_rotx" type="revolute">
        <origin xyz="-0.000461           0     -0.4785" rpy="0 0 0"/>
        <parent link="RightLowerLeg"/>
        <child link="RightFoot_f1"/>
        <dynamics damping="0.1" friction="0.0"/>
        <limit effort="30" velocity="1.0" lower="-0.610865" upper="0.785398" />
        <axis xyz="1 0 0" />
    </joint>
	<joint name="jRightAnkle_roty" type="revolute">
        <origin xyz="0 0 0" rpy="0 0 0"/>
        <parent link="RightFoot_f1"/>
        <child link="RightFoot_f2"/>
        <dynamics damping="0.1" friction="0.0"/>
        <limit effort="30" velocity="1.0" lower="-0.523599" upper="0.872665" />
        <axis xyz="0 1 0" />
    </joint>
    <joint name="jRightAnkle_rotz" type="revolute">
        <origin xyz="0 0 0" rpy="0 0 0"/>
        <parent link="RightFoot_f2"/>
        <child link="RightFoot"/>
        <dynamics damping="0.1" friction="0.0"/>
        <limit effort="30" velocity="1.0" lower="-0.436332" upper="0.872665" />
        <axis xyz="0 0 1" />
    </joint>
	<joint name="jRightBallFoot_roty" type="revolute">
        <origin xyz="0.15978           0   -0.067934" rpy="0 0 0"/>
        <parent link="RightFoot"/>
        <child link="RightToe"/>
        <dynamics damping="0.1" friction="0.0"/>
        <limit effort="30" velocity="1.0" lower="-0.174533" upper="1.5708" />
        <axis xyz="0 1 0" />
    </joint>
	<!--Chain from (20) to (23)-->
	<joint name="jLeftHip_rotx" type="revolute">
        <origin xyz="-5e-05    0.089713     0.00045" rpy="0 0 0"/>
        <parent link="Pelvis"/>
        <child link="LeftUpperLeg_f1"/>
        <dynamics damping="0.1" friction="0.0"/>
        <limit effort="30" velocity="1.0" lower="-0.523599" upper="0.785398" />
        <axis xyz="1 0 0" />
    </joint>
	<joint name="jLeftHip_roty" type="revolute">
        <origin xyz="0 0 0" rpy="0 0 0"/>
        <parent link="LeftUpperLeg_f1"/>
        <child link="LeftUpperLeg_f2"/>
        <dynamics damping="0.1" friction="0.0"/>
        <limit effort="30" velocity="1.0" lower="-0.261799" upper="2.0944" />
        <axis xyz="0 1 0" />
    </joint>
    <joint name="jLeftHip_rotz" type="revolute">
        <origin xyz="0 0 0" rpy="0 0 0"/>
        <parent link="LeftUpperLeg_f2"/>
        <child link="LeftUpperLeg"/>
        <dynamics damping="0.1" friction="0.0"/>
        <limit effort="30" velocity="1.0" lower="-0.785398" upper="0.785398" />
        <axis xyz="0 0 1" />
    </joint>
	<joint name="jLeftKnee_roty" type="revolute">
        <origin xyz="-0.000202           0    -0.28079" rpy="0 0 0"/>
        <parent link="LeftUpperLeg"/>
        <child link="LeftLowerLeg_f1"/>
        <dynamics damping="0.1" friction="0.0"/>
        <limit effort="30" velocity="1.0" lower="0" upper="2.35619" />
        <axis xyz="0 1 0" />
    </joint>
    <joint name="jLeftKnee_rotz" type="revolute">
        <origin xyz="0 0 0" rpy="0 0 0"/>
        <parent link="LeftLowerLeg_f1"/>
        <child link="LeftLowerLeg"/>
        <dynamics damping="0.1" friction="0.0"/>
        <limit effort="30" velocity="1.0" lower="-0.523599" upper="0.698132" />
        <axis xyz="0 0 1" />
    </joint>
	<joint name="jLeftAnkle_rotx" type="revolute">
        <origin xyz="-0.000461           0     -0.4785" rpy="0 0 0"/>
        <parent link="LeftLowerLeg"/>
        <child link="LeftFoot_f1"/>
        <dynamics damping="0.1" friction="0.0"/>
        <limit effort="30" velocity="1.0" lower="-0.610865" upper="0.785398" />
        <axis xyz="1 0 0" />
    </joint>
	<joint name="jLeftAnkle_roty" type="revolute">
        <origin xyz="0 0 0" rpy="0 0 0"/>
        <parent link="LeftFoot_f1"/>
        <child link="LeftFoot_f2"/>
        <dynamics damping="0.1" friction="0.0"/>
        <limit effort="30" velocity="1.0" lower="-0.523599" upper="0.872665" />
        <axis xyz="0 1 0" />
    </joint>
    <joint name="jLeftAnkle_rotz" type="revolute">
        <origin xyz="0 0 0" rpy="0 0 0"/>
        <parent link="LeftFoot_f2"/>
        <child link="LeftFoot"/>
        <dynamics damping="0.1" friction="0.0"/>
        <limit effort="30" velocity="1.0" lower="-0.872665" upper="0.436332" />
        <axis xyz="0 0 1" />
    </joint>
	<joint name="jLeftBallFoot_roty" type="revolute">
        <origin xyz="0.15978           0   -0.067934" rpy="0 0 0"/>
        <parent link="LeftFoot"/>
        <child link="LeftToe"/>
        <dynamics damping="0.1" friction="0.0"/>
        <limit effort="30" velocity="1.0" lower="-0.174533" upper="1.5708" />
        <axis xyz="0 1 0" />
    </joint>

	<!--Insert sensors here, if any.-->

</robot>
